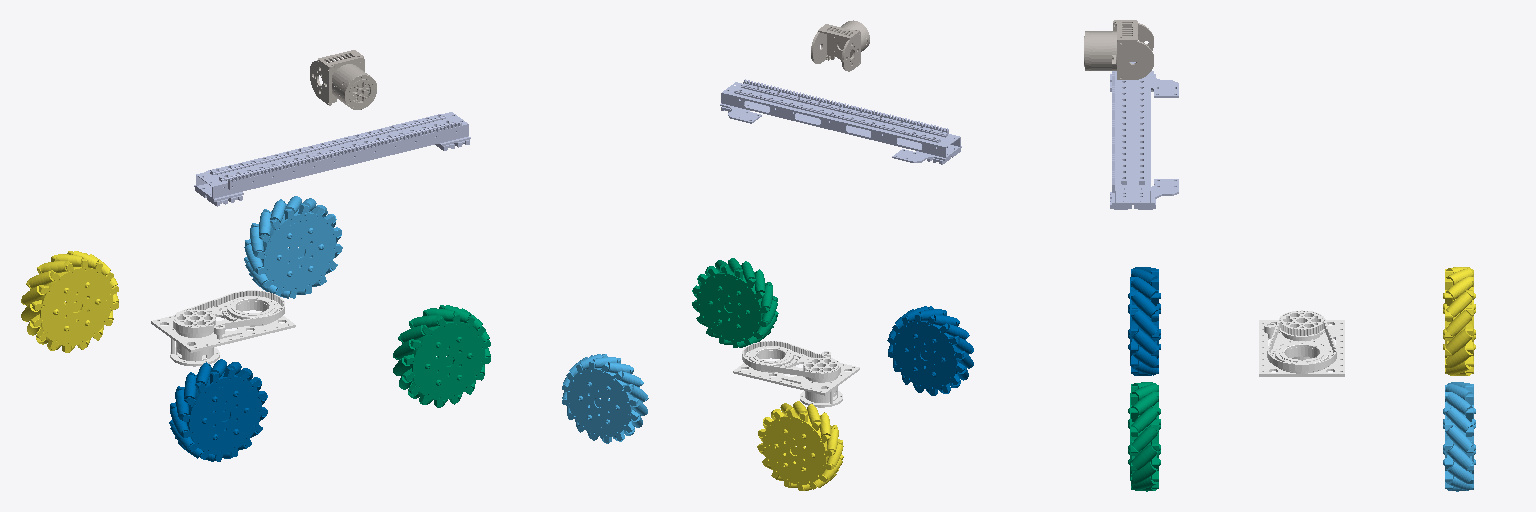
--- Facts derived from the render (not from the file) ---
Views: 3 orthographic renders of the robot side by side, from view 1: azimuth 30°, elevation 25°; view 2: azimuth 150°, elevation 25°; view 3: azimuth 270°, elevation 25°.
Model engineer_framed with 77 links and 76 joints (7 revolute, 64 continuous, 4 prismatic, 1 fixed), rooted at base_link, posed every joint at zero.
Links seen in each view (by area): view 1: link3, right_back_wheel, left_back_wheel, right_front_wheel, left_front_wheel, arm_base_link, link5; view 2: link3, right_back_wheel, left_back_wheel, left_front_wheel, right_front_wheel, arm_base_link, link5; view 3: link3, arm_base_link, link5, left_front_wheel, left_back_wheel, right_back_wheel, right_front_wheel.
Boxes of the visible links, x1,y1,x2,y2 form: link3: [194, 112, 470, 206]; right_back_wheel: [169, 359, 267, 461]; left_back_wheel: [21, 251, 118, 352]; right_front_wheel: [393, 305, 490, 407]; left_front_wheel: [244, 196, 342, 298]; arm_base_link: [151, 290, 295, 366]; link5: [310, 50, 376, 109]; link3: [720, 79, 961, 164]; right_back_wheel: [887, 306, 973, 395]; left_back_wheel: [757, 401, 843, 490]; left_front_wheel: [562, 354, 648, 443]; right_front_wheel: [692, 258, 778, 347]; arm_base_link: [733, 341, 859, 407]; link5: [811, 20, 869, 71]; link3: [1110, 62, 1178, 209]; arm_base_link: [1259, 310, 1344, 376]; link5: [1084, 20, 1153, 79]; left_front_wheel: [1443, 382, 1475, 491]; left_back_wheel: [1443, 267, 1475, 375]; right_back_wheel: [1128, 267, 1160, 375]; right_front_wheel: [1128, 382, 1160, 491].
Size in the robot's own frame: 0.5371 by 0.5507 by 0.6203 metres.
Meshes: 11 distinct files referenced, 7 mesh visuals loaded (5 binary STL); not drawn: 6 (reference not matched to a file when rendering).

URDF robot description (engineer_framed):
<?xml version="1.0" ?>
<!-- =================================================================================== -->
<!-- |    This document was autogenerated by xacro from [local-path]/catkin_ws/src/sp_control/sp_description/urdf/engineer_framed/engineer.xacro | -->
<!-- |    EDITING THIS FILE BY HAND IS NOT RECOMMENDED                                 | -->
<!-- =================================================================================== -->
<robot name="engineer_framed">
    <transmission name="trans_joint1">
        <type>transmission_interface/SimpleTransmission</type>
        <actuator name="joint1_motor">
            <mechanicalReduction>1</mechanicalReduction>
            <hardwareInterface>hardware_interface/PositionJointInterface</hardwareInterface>
        </actuator>
        <joint name="joint1">
            <hardwareInterface>hardware_interface/PositionJointInterface</hardwareInterface>
        </joint>
    </transmission>
    <transmission name="trans_joint2">
        <type>transmission_interface/SimpleTransmission</type>
        <actuator name="joint2_motor">
            <mechanicalReduction>1</mechanicalReduction>
            <hardwareInterface>hardware_interface/PositionJointInterface</hardwareInterface>
        </actuator>
        <joint name="joint2">
            <hardwareInterface>hardware_interface/PositionJointInterface</hardwareInterface>
        </joint>
    </transmission>
    <transmission name="trans_joint3">
        <type>transmission_interface/SimpleTransmission</type>
        <actuator name="joint3_motor">
            <mechanicalReduction>1</mechanicalReduction>
            <hardwareInterface>hardware_interface/PositionJointInterface</hardwareInterface>
        </actuator>
        <joint name="joint3">
            <hardwareInterface>hardware_interface/PositionJointInterface</hardwareInterface>
        </joint>
    </transmission>
    <transmission name="trans_joint4">
        <type>transmission_interface/SimpleTransmission</type>
        <actuator name="joint4_motor">
            <mechanicalReduction>1</mechanicalReduction>
            <hardwareInterface>hardware_interface/PositionJointInterface</hardwareInterface>
        </actuator>
        <joint name="joint4">
            <hardwareInterface>hardware_interface/PositionJointInterface</hardwareInterface>
        </joint>
    </transmission>
    <transmission name="trans_joint5">
        <type>transmission_interface/SimpleTransmission</type>
        <actuator name="joint5_motor">
            <mechanicalReduction>1</mechanicalReduction>
            <hardwareInterface>hardware_interface/PositionJointInterface</hardwareInterface>
        </actuator>
        <joint name="joint5">
            <hardwareInterface>hardware_interface/PositionJointInterface</hardwareInterface>
        </joint>
    </transmission>
    <transmission name="trans_joint6">
        <type>transmission_interface/SimpleTransmission</type>
        <actuator name="joint6_motor">
            <mechanicalReduction>1</mechanicalReduction>
            <hardwareInterface>hardware_interface/PositionJointInterface</hardwareInterface>
        </actuator>
        <joint name="joint6">
            <hardwareInterface>hardware_interface/PositionJointInterface</hardwareInterface>
        </joint>
    </transmission>
    <transmission name="trans_joint7">
        <type>transmission_interface/SimpleTransmission</type>
        <actuator name="joint7_motor">
            <mechanicalReduction>1</mechanicalReduction>
            <hardwareInterface>hardware_interface/PositionJointInterface</hardwareInterface>
        </actuator>
        <joint name="joint7">
            <hardwareInterface>hardware_interface/PositionJointInterface</hardwareInterface>
        </joint>
    </transmission>
    <!--<gazebo>
        <plugin name="gazebo_ros_vacuum_gripper" filename="libgazebo_ros_vacuum_gripper.so">
            <robotNamespace>/vacuum_gripper</robotNamespace>
            <bodyName>vacuum_gripper</bodyName>
            <topicName>grasping</topicName>
            <maxForce>100</maxForce>
            <maxDistance>0.05</maxDistance>
            <minDistance>0.01</minDistance>
        </plugin>
    </gazebo>	
    <gazebo reference="vacuum_gripper">
        <mu1>50</mu1>
        <mu2>50</mu2>
　　　   <minDepth>0.003</minDepth>
        <maxVel>0</maxVel>
        <kp>10000000000000.0</kp>
        <kd>1.0</kd>
        <ki>2.0</ki>
        <material>Gazebo/Grey</material>
    </gazebo>-->
    <link name="arm_base_link">
        <inertial>
            <origin rpy="0 0 0" xyz="-0.02624 -0.018282 0.25067" />
            <mass value="3.4509" />
            <inertia ixx="0.030137" ixy="-1.2844E-07" ixz="-3.1208E-06" iyy="0.030724" iyz="3.4634E-08" izz="0.0009827" />
        </inertial>
        <visual>
            <origin rpy="0 0 0" xyz="0 0 0" />
            <geometry>
                <mesh filename="package://sp_description/meshes/engineer_framed/engineer_manipulator_framed/arm_base_link.STL" />
            </geometry>
            <material name="">
                <color rgba="1 1 1 1" />
            </material>
        </visual>
        <collision>
            <origin rpy="0 0 0" xyz="0 0 0" />
            <geometry>
                <mesh filename="package://sp_description/meshes/engineer_framed/engineer_manipulator_framed/arm_base_link.STL" />
            </geometry>
        </collision>
    </link>
    <link name="link1">
        <inertial>
            <origin rpy="0 0 0" xyz="-0.045505 -0.011017 0.39513" />
            <mass value="3.3312" />
            <inertia ixx="0.0042512" ixy="-2.4588E-07" ixz="4.24E-06" iyy="0.047095" iyz="-5.1472E-08" izz="0.050676" />
        </inertial>
        <visual>
            <origin rpy="0 0 0" xyz="0 0 0" />
            <geometry>
                <mesh filename="package://sp_description/meshes/engineer_framed/engineer_manipulator_framed/link1.STL" />
            </geometry>
            <material name="">
                <color rgba="0.79216 0.81961 0.93333 1" />
            </material>
        </visual>
        <collision>
            <origin rpy="0 0 0" xyz="0 0 0" />
            <geometry>
                <mesh filename="package://sp_description/meshes/engineer_framed/engineer_manipulator_framed/link1.STL" />
            </geometry>
        </collision>
    </link>
    <joint name="joint1" type="prismatic">
        <origin rpy="0 0 0" xyz="0 0 -0.15" />
        <parent link="arm_base_link" />
        <child link="link1" />
        <axis xyz="0 0 1" />
        <limit effort="20" lower="0" upper="0.15" velocity="5" />
    </joint>
    <link name="link2">
        <inertial>
            <origin rpy="0 0 0" xyz="0.73763 -0.012605 0.069937" />
            <mass value="3.3677" />
            <inertia ixx="0.00060317" ixy="-1.317E-07" ixz="-5.0363E-06" iyy="0.059389" iyz="2.5076E-07" izz="0.059509" />
        </inertial>
        <visual>
            <origin rpy="0 0 0" xyz="0 0 0" />
            <geometry>
                <mesh filename="package://sp_description/meshes/engineer_framed/engineer_manipulator_framed/link2.STL" />
            </geometry>
            <material name="">
                <color rgba="0.77647 0.75686 0.73725 1" />
            </material>
        </visual>
        <collision>
            <origin rpy="0 0 0" xyz="0 0 0" />
            <geometry>
                <mesh filename="package://sp_description/meshes/engineer_framed/engineer_manipulator_framed/link2.STL" />
            </geometry>
        </collision>
    </link>
    <joint name="joint2" type="prismatic">
        <origin rpy="0 0 0" xyz="-0.7 0 0.3831" />
        <parent link="link1" />
        <child link="link2" />
        <axis xyz="-1 0 0" />
        <limit effort="0" lower="0" upper="0.86634" velocity="0" />
    </joint>
    <link name="link3">
        <inertial>
            <origin rpy="0 0 0" xyz="0.51091 -0.0045583 0.038639" />
            <mass value="0.53167" />
            <inertia ixx="0.0064927" ixy="-6.4359E-05" ixz="6.2407E-09" iyy="0.00010061" iyz="1.8149E-08" izz="0.0065666" />
        </inertial>
        <visual>
            <origin rpy="0 0 0" xyz="0 0 0" />
            <geometry>
                <mesh filename="package://sp_description/meshes/engineer_framed/engineer_manipulator_framed/link3.STL" />
            </geometry>
            <material name="">
                <color rgba="0.79216 0.81961 0.93333 1" />
            </material>
        </visual>
        <collision>
            <origin rpy="0 0 0" xyz="0 0 0" />
            <geometry>
                <mesh filename="package://sp_description/meshes/engineer_framed/engineer_manipulator_framed/link3.STL" />
            </geometry>
        </collision>
    </link>
    <joint name="joint3" type="prismatic">
        <origin rpy="0 3.3989E-05 0.01003" xyz="0.42794 0 0.072" />
        <parent link="link2" />
        <child link="link3" />
        <axis xyz="-1 0 0" />
        <limit effort="0" lower="0" upper="0.4754" velocity="0" />
    </joint>
    <link name="link4">
        <inertial>
            <origin rpy="0 0 0" xyz="0.0022111 0.055845 0.11382" />
            <mass value="2.5793" />
            <inertia ixx="0.0074201" ixy="-1.1003E-06" ixz="-7.0108E-06" iyy="0.00083556" iyz="-7.3369E-07" izz="0.0075834" />
        </inertial>
        <visual>
            <origin rpy="0 0 0" xyz="0 0 0" />
            <geometry>
                <mesh filename="package://sp_description/meshes/engineer_framed/engineer_manipulator_framed/link4.STL" />
            </geometry>
            <material name="">
                <color rgba="0.77647 0.75686 0.73725 1" />
            </material>
        </visual>
        <collision>
            <origin rpy="0 0 0" xyz="0 0 0" />
            <geometry>
                <mesh filename="package://sp_description/meshes/engineer_framed/engineer_manipulator_framed/link4.STL" />
            </geometry>
        </collision>
    </link>
    <joint name="joint4" type="prismatic">
        <origin rpy="0 -3.3987E-05 -0.01003" xyz="0.50967 -0.005112 0.034017" />
        <parent link="link3" />
        <child link="link4" />
        <axis xyz="0 1 0" />
        <limit effort="0" lower="-0.3" upper="0.3" velocity="0" />
    </joint>
    <link name="link5">
        <inertial>
            <origin rpy="0 0 0" xyz="0.037013 0.0011704 -0.028178" />
            <mass value="0.32118" />
            <inertia ixx="0.00016392" ixy="-3.0539E-08" ixz="5.3231E-08" iyy="9.5535E-05" iyz="7.5431E-08" izz="0.00010732" />
        </inertial>
        <visual>
            <origin rpy="0 0 0" xyz="0 0 0" />
            <geometry>
                <mesh filename="package://sp_description/meshes/engineer_framed/engineer_manipulator_framed/link5.STL" />
            </geometry>
            <material name="">
                <color rgba="0.77647 0.75686 0.73725 1" />
            </material>
        </visual>
        <collision>
            <origin rpy="0 0 0" xyz="0 0 0" />
            <geometry>
                <mesh filename="package://sp_description/meshes/engineer_framed/engineer_manipulator_framed/link5.STL" />
            </geometry>
        </collision>
    </link>
    <joint name="joint5" type="revolute">
        <origin rpy="1.5708 0 0" xyz="0 -0.018 0.128" />
        <parent link="link4" />
        <child link="link5" />
        <axis xyz="0 0 1" />
        <limit effort="0" lower="0" upper="3.14" velocity="0" />
    </joint>
    <link name="link6">
        <inertial>
            <origin rpy="0 0 0" xyz="0.00062599 -0.14196 -0.013409" />
            <mass value="0.69733" />
            <inertia ixx="0.00029313" ixy="1.0445E-08" ixz="1.6605E-08" iyy="0.00028267" iyz="-4.8697E-06" izz="0.00025509" />
        </inertial>
        <visual>
            <origin rpy="0 0 0" xyz="0 0 0" />
            <geometry>
                <mesh filename="package://sp_description/meshes/engineer_framed/engineer_manipulator_framed/link6.STL" />
            </geometry>
            <material name="">
                <color rgba="0.77647 0.75686 0.73725 1" />
            </material>
        </visual>
        <collision>
            <origin rpy="0 0 0" xyz="0 0 0" />
            <geometry>
                <mesh filename="package://sp_description/meshes/engineer_framed/engineer_manipulator_framed/link6.STL" />
            </geometry>
        </collision>
    </link>
    <joint name="joint6" type="revolute">
        <origin rpy="1.5708 -1.5674 1.5708" xyz="0.07179 0 -0.028" />
        <parent link="link5" />
        <child link="link6" />
        <axis xyz="0 0 -1" />
        <limit effort="0" lower="-1.57" upper="1.57" velocity="0" />
    </joint>
    <link name="link7">
        <inertial>
            <origin rpy="0 0 0" xyz="1.0099E-06 -0.062072 0.050902" />
            <mass value="0.16243" />
            <inertia ixx="0.00010545" ixy="-3.0539E-08" ixz="1.4953E-08" iyy="5.3443E-05" iyz="-3.1729E-08" izz="0.00014942" />
        </inertial>
        <visual>
            <origin rpy="0 0 0" xyz="0 0 0" />
            <geometry>
                <mesh filename="package://sp_description/meshes/engineer_framed/engineer_manipulator_framed/link7.STL" />
            </geometry>
            <material name="">
                <color rgba="1 1 1 1" />
            </material>
        </visual>
        <collision>
            <origin rpy="0 0 0" xyz="0 0 0" />
            <geometry>
                <mesh filename="package://sp_description/meshes/engineer_framed/engineer_manipulator_framed/link7.STL" />
            </geometry>
        </collision>
    </link>
    <joint name="joint7" type="revolute">
        <origin rpy="1.5704 0 0.0033889" xyz="0.00059574 -0.17579 -0.07179" />
        <parent link="link6" />
        <child link="link7" />
        <axis xyz="0.033366 0 0.99944" />
        <limit effort="20" lower="-3.14" upper="3.14" velocity="5" />
    </joint>
    <link name="base_link">
        <inertial>
            <origin rpy="0 0 0" xyz="0.047614 -0.013852 0.13893" />
            <mass value="12.232" />
            <inertia ixx="0.039383" ixy="2.7131E-05" ixz="0.00010315" iyy="0.048017" iyz="0.00051335" izz="0.075914" />
        </inertial>
        <visual>
            <origin rpy="0 0 0" xyz="0 0 0" />
            <geometry>
                <mesh filename="package://sp_description/meshes/engineer_framed/engineer_chassis/base_link.STL" />
            </geometry>
            <material name="">
                <color rgba="0.75294 0.75294 0.75294 1" />
            </material>
        </visual>
        <collision>
            <origin rpy="0 0 0" xyz="0 0 0" />
            <geometry>
                <mesh filename="package://sp_description/meshes/engineer_framed/engineer_chassis/base_link.STL" />
            </geometry>
        </collision>
    </link>
    <!--  link  -->
    <link name="left_front_wheel">
        <visual>
            <geometry>
                <mesh filename="package://sp_description/meshes/common/mecanum_wheel/right_mecanum_wheel.STL" />
            </geometry>
        </visual>
        <inertial>
            <mass value="0.4235" />
            <inertia ixx="4.122e-4" ixy="0.0" ixz="0.0" iyy="7.398e-4" iyz="0.0" izz="4.122e-4" />
        </inertial>
    </link>
    <!--  joint  -->
    <joint name="left_front_wheel_joint" type="revolute">
        <axis xyz="0 1 0" />
        <origin rpy="0 0 0" xyz="0.19185 0.221 0.077" />
        <!--      limit not work while type="continuous"-->
        <limit effort="10" lower="-1e9" upper="1e9" velocity="70" />
        <dynamics damping="0.0" friction="0.05" />
        <parent link="base_link" />
        <child link="left_front_wheel" />
    </joint>
    <!--  link  -->
    <link name="left_front_roller_0">
        <collision>
            <geometry>
                <sphere radius="0.009" />
            </geometry>
        </collision>
        <inertial>
            <mass value="0.036" />
            <inertia ixx="3128e-9" ixy="0.0" ixz="0.0" iyy="3128e-9" iyz="0.0" izz="3128e-9" />
            <origin xyz="0 0 0" rpy="0 0 0" />
        </inertial>
    </link>
    <joint name="left_front_roller_0_joint" type="continuous">
        <origin rpy="0 0 0" xyz="4.163799117101001e-18 0 -0.068" />
        <axis xyz="0.7071067811865476 -0.7071067811865476 0.0" />
        <dynamics damping="0.0" friction="0.001" />
        <parent link="left_front_wheel" />
        <child link="left_front_roller_0" />
    </joint>
    <gazebo reference="left_front_roller_0">
        <mu1 value="2000.0" />
        <mu2 value="2000.0" />
        <kp value="1000000.0" />
        <kd value="100.0" />
        <material>Gazebo/Black</material>
        <plugin name="gazebo_ros_control">
            <robotNamespace>/</robotNamespace>
        </plugin>
    </gazebo>
    <!--  link  -->
    <link name="left_front_roller_1">
        <collision>
            <geometry>
                <sphere radius="0.009" />
            </geometry>
        </collision>
        <inertial>
            <mass value="0.036" />
            <inertia ixx="3128e-9" ixy="0.0" ixz="0.0" iyy="3128e-9" iyz="0.0" izz="3128e-9" />
            <origin xyz="0 0 0" rpy="0 0 0" />
        </inertial>
    </link>
    <joint name="left_front_roller_1_joint" type="continuous">
        <origin rpy="0 0 0" xyz="0.026041377055996056 0 -0.06281597472798972" />
        <axis xyz="0.653200024955946 -0.7071067811865476 0.27079462217250855" />
        <dynamics damping="0.0" friction="0.001" />
        <parent link="left_front_wheel" />
        <child link="left_front_roller_1" />
    </joint>
    <gazebo reference="left_front_roller_1">
        <mu1 value="2000.0" />
        <mu2 value="2000.0" />
        <kp value="1000000.0" />
        <kd value="100.0" />
        <material>Gazebo/Black</material>
    </gazebo>
    <!--  link  -->
    <link name="left_front_roller_2">
        <collision>
            <geometry>
                <sphere radius="0.009" />
            </geometry>
        </collision>
        <inertial>
            <mass value="0.036" />
            <inertia ixx="3128e-9" ixy="0.0" ixz="0.0" iyy="3128e-9" iyz="0.0" izz="3128e-9" />
            <origin xyz="0 0 0" rpy="0 0 0" />
        </inertial>
    </link>
    <joint name="left_front_roller_2_joint" type="continuous">
        <origin rpy="0 0 0" xyz="0.04811219067739703 0 -0.048054314147865956" />
        <axis xyz="0.49969899116506866 -0.7071067811865476 0.5003008277312888" />
        <dynamics damping="0.0" friction="0.001" />
        <parent link="left_front_wheel" />
        <child link="left_front_roller_2" />
    </joint>
    <gazebo reference="left_front_roller_2">
        <mu1 value="2000.0" />
        <mu2 value="2000.0" />
        <kp value="1000000.0" />
        <kd value="100.0" />
        <material>Gazebo/Black</material>
    </gazebo>
    <!--  link  -->
    <link name="left_front_roller_3">
        <collision>
            <geometry>
                <sphere radius="0.009" />
            </geometry>
        </collision>
        <inertial>
            <mass value="0.036" />
            <inertia ixx="3128e-9" ixy="0.0" ixz="0.0" iyy="3128e-9" iyz="0.0" izz="3128e-9" />
            <origin xyz="0 0 0" rpy="0 0 0" />
        </inertial>
    </link>
    <joint name="left_front_roller_3_joint" type="continuous">
        <origin rpy="0 0 0" xyz="0.06284727452340379 0 -0.025965748303869884" />
        <axis xyz="0.2700081868271984 -0.7071067811865476 0.6535254999204613" />
        <dynamics damping="0.0" friction="0.001" />
        <parent link="left_front_wheel" />
        <child link="left_front_roller_3" />
    </joint>
    <gazebo reference="left_front_roller_3">
        <mu1 value="2000.0" />
        <mu2 value="2000.0" />
        <kp value="1000000.0" />
        <kd value="100.0" />
        <material>Gazebo/Black</material>
    </gazebo>
    <!--  link  -->
    <link name="left_front_roller_4">
        <collision>
            <geometry>
                <sphere radius="0.009" />
            </geometry>
        </collision>
        <inertial>
            <mass value="0.036" />
            <inertia ixx="3128e-9" ixy="0.0" ixz="0.0" iyy="3128e-9" iyz="0.0" izz="3128e-9" />
            <origin xyz="0 0 0" rpy="0 0 0" />
        </inertial>
    </link>
    <joint name="left_front_roller_4_joint" type="continuous">
        <origin rpy="0 0 0" xyz="0.06799995073981367 0 8.184975818264867e-05" />
        <axis xyz="-0.0008511252801386329 -0.7071067811865476 0.7071062689481388" />
        <dynamics damping="0.0" friction="0.001" />
        <parent link="left_front_wheel" />
        <child link="left_front_roller_4" />
    </joint>
    <gazebo reference="left_front_roller_4">
        <mu1 value="2000.0" />
        <mu2 value="2000.0" />
        <kp value="1000000.0" />
        <kd value="100.0" />
        <material>Gazebo/Black</material>
    </gazebo>
    <!--  link  -->
    <link name="left_front_roller_5">
        <collision>
            <geometry>
                <sphere radius="0.009" />
            </geometry>
        </collision>
        <inertial>
            <mass value="0.036" />
            <inertia ixx="3128e-9" ixy="0.0" ixz="0.0" iyy="3128e-9" iyz="0.0" izz="3128e-9" />
            <origin xyz="0 0 0" rpy="0 0 0" />
        </inertial>
    </link>
    <joint name="left_front_roller_5_joint" type="continuous">
        <origin rpy="0 0 0" xyz="0.06278458392296919 0 0.026116968078619688" />
        <axis xyz="-0.27158066518271434 -0.7071067811865476 0.6528736036162853" />
        <dynamics damping="0.0" friction="0.001" />
        <parent link="left_front_wheel" />
        <child link="left_front_roller_5" />
    </joint>
    <gazebo reference="left_front_roller_5">
        <mu1 value="2000.0" />
        <mu2 value="2000.0" />
        <kp value="1000000.0" />
        <kd value="100.0" />
        <material>Gazebo/Black</material>
    </gazebo>
    <!--  link  -->
    <link name="left_front_roller_6">
        <collision>
            <geometry>
                <sphere radius="0.009" />
            </geometry>
        </collision>
        <inertial>
            <mass value="0.036" />
            <inertia ixx="3128e-9" ixy="0.0" ixz="0.0" iyy="3128e-9" iyz="0.0" izz="3128e-9" />
            <origin xyz="0 0 0" rpy="0 0 0" />
        </inertial>
    </link>
    <joint name="left_front_roller_6_joint" type="continuous">
        <origin rpy="0 0 0" xyz="0.0479963679958505 0 0.04816999750059053" />
        <axis xyz="-0.5009019394471561 -0.7071067811865476 0.499096430620454" />
        <dynamics damping="0.0" friction="0.001" />
        <parent link="left_front_wheel" />
        <child link="left_front_roller_6" />
    </joint>
    <gazebo reference="left_front_roller_6">
        <mu1 value="2000.0" />
        <mu2 value="2000.0" />
        <kp value="1000000.0" />
        <kd value="100.0" />
        <material>Gazebo/Black</material>
    </gazebo>
    <!--  link  -->
    <link name="left_front_roller_7">
        <collision>
            <geometry>
                <sphere radius="0.009" />
            </geometry>
        </collision>
        <inertial>
            <mass value="0.036" />
            <inertia ixx="3128e-9" ixy="0.0" ixz="0.0" iyy="3128e-9" iyz="0.0" izz="3128e-9" />
            <origin xyz="0 0 0" rpy="0 0 0" />
        </inertial>
    </link>
    <joint name="left_front_roller_7_joint" type="continuous">
        <origin rpy="0 0 0" xyz="0.0258900819318143 0 0.06287848326386335" />
        <axis xyz="-0.6538500280382736 -0.7071067811865476 0.2692213602861942" />
        <dynamics damping="0.0" friction="0.001" />
        <parent link="left_front_wheel" />
        <child link="left_front_roller_7" />
    </joint>
    <gazebo reference="left_front_roller_7">
        <mu1 value="2000.0" />
        <mu2 value="2000.0" />
        <kp value="1000000.0" />
        <kd value="100.0" />
        <material>Gazebo/Black</material>
    </gazebo>
    <!--  link  -->
    <link name="left_front_roller_8">
        <collision>
            <geometry>
                <sphere radius="0.009" />
            </geometry>
        </collision>
        <inertial>
            <mass value="0.036" />
            <inertia ixx="3128e-9" ixy="0.0" ixz="0.0" iyy="3128e-9" iyz="0.0" izz="3128e-9" />
            <origin xyz="0 0 0" rpy="0 0 0" />
        </inertial>
    </link>
    <joint name="left_front_roller_8_joint" type="continuous">
        <origin rpy="0 0 0" xyz="-0.00016369939777898906 0 0.06799980295932605" />
        <axis xyz="-0.7071047322336546 -0.7071067811865476 -0.0017022493271422689" />
        <dynamics damping="0.0" friction="0.001" />
        <parent link="left_front_wheel" />
        <child link="left_front_roller_8" />
    </joint>
    <gazebo reference="left_front_roller_8">
        <mu1 value="2000.0" />
        <mu2 value="2000.0" />
        <kp value="1000000.0" />
        <kd value="100.0" />
        <material>Gazebo/Black</material>
    </gazebo>
    <!--  link  -->
    <link name="left_front_roller_9">
        <collision>
            <geometry>
                <sphere radius="0.009" />
            </geometry>
        </collision>
        <inertial>
            <mass value="0.036" />
            <inertia ixx="3128e-9" ixy="0.0" ixz="0.0" iyy="3128e-9" iyz="0.0" izz="3128e-9" />
            <origin xyz="0 0 0" rpy="0 0 0" />
        </inertial>
    </link>
    <joint name="left_front_roller_9_joint" type="continuous">
        <origin rpy="0 0 0" xyz="-0.026192521262222306 0 0.06275310215382211" />
        <axis xyz="-0.6525462363744081 -0.7071067811865476 -0.2723663147189738" />
        <dynamics damping="0.0" friction="0.001" />
        <parent link="left_front_wheel" />
        <child link="left_front_roller_9" />
    </joint>
    <gazebo reference="left_front_roller_9">
        <mu1 value="2000.0" />
        <mu2 value="2000.0" />
        <kp value="1000000.0" />
        <kd value="100.0" />
        <material>Gazebo/Black</material>
    </gazebo>
    <!--  link  -->
    <link name="left_front_roller_10">
        <collision>
            <geometry>
                <sphere radius="0.009" />
            </geometry>
        </collision>
        <inertial>
            <mass value="0.036" />
            <inertia ixx="3128e-9" ixy="0.0" ixz="0.0" iyy="3128e-9" iyz="0.0" izz="3128e-9" />
            <origin xyz="0 0 0" rpy="0 0 0" />
        </inertial>
    </link>
    <joint name="left_front_roller_10_joint" type="continuous">
        <origin rpy="0 0 0" xyz="-0.048227734533694264 0 0.04793835230530472" />
        <axis xyz="-0.49849314697045194 -0.7071067811865476 -0.5015023254417625" />
        <dynamics damping="0.0" friction="0.001" />
        <parent link="left_front_wheel" />
        <child link="left_front_roller_10" />
    </joint>
    <gazebo reference="left_front_roller_10">
        <mu1 value="2000.0" />
        <mu2 value="2000.0" />
        <kp value="1000000.0" />
        <kd value="100.0" />
        <material>Gazebo/Black</material>
    </gazebo>
    <!--  link  -->
    <link name="left_front_roller_11">
        <collision>
            <geometry>
                <sphere radius="0.009" />
            </geometry>
        </collision>
        <inertial>
            <mass value="0.036" />
            <inertia ixx="3128e-9" ixy="0.0" ixz="0.0" iyy="3128e-9" iyz="0.0" izz="3128e-9" />
            <origin xyz="0 0 0" rpy="0 0 0" />
        </inertial>
    </link>
    <joint name="left_front_roller_11_joint" type="continuous">
        <origin rpy="0 0 0" xyz="-0.06290960090415226 0 0.02581437804945697" />
        <axis xyz="-0.2684341436894733 -0.7071067811865476 -0.6541736088391974" />
        <dynamics damping="0.0" friction="0.001" />
        <parent link="left_front_wheel" />
        <child link="left_front_roller_11" />
    </joint>
    <gazebo reference="left_front_roller_11">
        <mu1 value="2000.0" />
        <mu2 value="2000.0" />
        <kp value="1000000.0" />
        <kd value="100.0" />
        <material>Gazebo/Black</material>
    </gazebo>
    <!--  link  -->
    <link name="left_front_roller_12">
        <collision>
            <geometry>
                <sphere radius="0.009" />
            </geometry>
        </collision>
        <inertial>
            <mass value="0.036" />
            <inertia ixx="3128e-9" ixy="0.0" ixz="0.0" iyy="3128e-9" iyz="0.0" izz="3128e-9" />
            <origin xyz="0 0 0" rpy="0 0 0" />
        </inertial>
    </link>
    <joint name="left_front_roller_12_joint" type="continuous">
        <origin rpy="0 0 0" xyz="-0.06799955665875124 0 -0.0002455488002028931" />
        <axis xyz="0.002553370907877698 -0.7071067811865476 -0.7071021710453214" />
        <dynamics damping="0.0" friction="0.001" />
        <parent link="left_front_wheel" />
        <child link="left_front_roller_12" />
    </joint>
    <gazebo reference="left_front_roller_12">
        <mu1 value="2000.0" />
        <mu2 value="2000.0" />
        <kp value="1000000.0" />
        <kd value="100.0" />
        <material>Gazebo/Black</material>
    </gazebo>
    <!--  link  -->
    <link name="left_front_roller_13">
        <collision>
            <geometry>
                <sphere radius="0.009" />
            </geometry>
        </collision>
        <inertial>
            <mass value="0.036" />
            <inertia ixx="3128e-9" ixy="0.0" ixz="0.0" iyy="3128e-9" iyz="0.0" izz="3128e-9" />
            <origin xyz="0 0 0" rpy="0 0 0" />
        </inertial>
    </link>
    <joint name="left_front_roller_13_joint" type="continuous">
        <origin rpy="0 0 0" xyz="-0.06272152946616016 0 -0.026268036497340295" />
        <axis xyz="0.2731515696430154 -0.7071067811865476 -0.6522179237046135" />
        <dynamics damping="0.0" friction="0.001" />
        <parent link="left_front_wheel" />
        <child link="left_front_roller_13" />
    </joint>
    <gazebo reference="left_front_roller_13">
        <mu1 value="2000.0" />
        <mu2 value="2000.0" />
        <kp value="1000000.0" />
        <kd value="100.0" />
        <material>Gazebo/Black</material>
    </gazebo>
    <!--  link  -->
    <link name="left_front_roller_14">
        <collision>
            <geometry>
                <sphere radius="0.009" />
            </geometry>
        </collision>
        <inertial>
            <mass value="0.036" />
            <inertia ixx="3128e-9" ixy="0.0" ixz="0.0" iyy="3128e-9" iyz="0.0" izz="3128e-9" />
            <origin xyz="0 0 0" rpy="0 0 0" />
        </inertial>
    </link>
    <joint name="left_front_roller_14_joint" type="continuous">
        <origin rpy="0 0 0" xyz="-0.04788026716028342 0 -0.04828540169305713" />
        <axis xyz="0.5021019848452515 -0.7071067811865476 -0.49788914108911725" />
        <dynamics damping="0.0" friction="0.001" />
        <parent link="left_front_wheel" />
        <child link="left_front_roller_14" />
    </joint>
    <gazebo reference="left_front_roller_14">
        <mu1 value="2000.0" />
        <mu2 value="2000.0" />
        <kp value="1000000.0" />
        <kd value="100.0" />
        <material>Gazebo/Black</material>
    </gazebo>
    <!--  link  -->
    <link name="left_front_roller_15">
        <collision>
            <geometry>
                <sphere radius="0.009" />
            </geometry>
        </collision>
        <inertial>
            <mass value="0.036" />
            <inertia ixx="3128e-9" ixy="0.0" ixz="0.0" iyy="3128e-9" iyz="0.0" izz="3128e-9" />
            <origin xyz="0 0 0" rpy="0 0 0" />
        </inertial>
    </link>
    <joint name="left_front_roller_15_joint" type="continuous">
        <origin rpy="0 0 0" xyz="-0.025738636766479847 0 -0.06294062739918639" />
        <axis xyz="0.6544962418544192 -0.7071067811865476 -0.2676465381775779" />
        <dynamics damping="0.0" friction="0.001" />
        <parent link="left_front_wheel" />
        <child link="left_front_roller_15" />
    </joint>
    <gazebo reference="left_front_roller_15">
        <mu1 value="2000.0" />
        <mu2 value="2000.0" />
        <kp value="1000000.0" />
        <kd value="100.0" />
        <material>Gazebo/Black</material>
    </gazebo>
    <!--  link  -->
    <link name="right_front_wheel">
        <visual>
            <geometry>
                <mesh filename="package://sp_description/meshes/common/mecanum_wheel/left_mecanum_wheel.STL" />
            </geometry>
        </visual>
        <inertial>
            <mass value="0.4235" />
            <inertia ixx="4.122e-4" ixy="0.0" ixz="0.0" iyy="7.398e-4" iyz="0.0" izz="4.122e-4" />
        </inertial>
    </link>
    <!--  joint  -->
    <joint name="right_front_wheel_joint" type="revolute">
        <axis xyz="0 1 0" />
        <origin rpy="0 0 0" xyz="0.19185 -0.221 0.077" />
        <!--      limit not work while type="continuous"-->
        <limit effort="10" lower="-1e9" upper="1e9" velocity="70" />
        <dynamics damping="0.0" friction="0.05" />
        <parent link="base_link" />
        <child link="right_front_wheel" />
    </joint>
    <!--  link  -->
    <link name="right_front_roller_0">
        <collision>
            <geometry>
                <sphere radius="0.009" />
            </geometry>
        </collision>
        <inertial>
            <mass value="0.036" />
            <inertia ixx="3128e-9" ixy="0.0" ixz="0.0" iyy="3128e-9" iyz="0.0" izz="3128e-9" />
            <origin xyz="0 0 0" rpy="0 0 0" />
        </inertial>
    </link>
    <joint name="right_front_roller_0_joint" type="continuous">
        <origin rpy="0 0 0" xyz="4.163799117101001e-18 0 -0.068" />
        <axis xyz="0.7071067811865476 0.7071067811865476 0.0" />
        <dynamics damping="0.0" friction="0.001" />
        <parent link="right_front_wheel" />
        <child link="right_front_roller_0" />
    </joint>
    <gazebo reference="right_front_roller_0">
        <mu1 value="2000.0" />
        <mu2 value="2000.0" />
        <kp value="1000000.0" />
        <kd value="100.0" />
        <material>Gazebo/Black</material>
    </gazebo>
    <!--  link  -->
    <link name="right_front_roller_1">
        <collision>
            <geometry>
                <sphere radius="0.009" />
            </geometry>
        </collision>
        <inertial>
            <mass value="0.036" />
            <inertia ixx="3128e-9" ixy="0.0" ixz="0.0" iyy="3128e-9" iyz="0.0" izz="3128e-9" />
            <origin xyz="0 0 0" rpy="0 0 0" />
        </inertial>
    </link>
    <joint name="right_front_roller_1_joint" type="continuous">
        <origin rpy="0 0 0" xyz="0.026041377055996056 0 -0.06281597472798972" />
        <axis xyz="0.653200024955946 0.7071067811865476 0.27079462217250855" />
        <dynamics damping="0.0" friction="0.001" />
        <parent link="right_front_wheel" />
        <child link="right_front_roller_1" />
    </joint>
    <gazebo reference="right_front_roller_1">
        <mu1 value="2000.0" />
        <mu2 value="2000.0" />
        <kp value="1000000.0" />
        <kd value="100.0" />
        <material>Gazebo/Black</material>
    </gazebo>
    <!--  link  -->
    <link name="right_front_roller_2">
        <collision>
            <geometry>
                <sphere radius="0.009" />
            </geometry>
        </collision>
        <inertial>
            <mass value="0.036" />
            <inertia ixx="3128e-9" ixy="0.0" ixz="0.0" iyy="3128e-9" iyz="0.0" izz="3128e-9" />
            <origin xyz="0 0 0" rpy="0 0 0" />
        </inertial>
    </link>
    <joint name="right_front_roller_2_joint" type="continuous">
        <origin rpy="0 0 0" xyz="0.04811219067739703 0 -0.048054314147865956" />
        <axis xyz="0.49969899116506866 0.7071067811865476 0.5003008277312888" />
        <dynamics damping="0.0" friction="0.001" />
        <parent link="right_front_wheel" />
        <child link="right_front_roller_2" />
    </joint>
    <gazebo reference="right_front_roller_2">
        <mu1 value="2000.0" />
        <mu2 value="2000.0" />
        <kp value="1000000.0" />
        <kd value="100.0" />
        <material>Gazebo/Black</material>
    </gazebo>
    <!--  link  -->
    <link name="right_front_roller_3">
        <collision>
            <geometry>
                <sphere radius="0.009" />
            </geometry>
        </collision>
        <inertial>
            <mass value="0.036" />
            <inertia ixx="3128e-9" ixy="0.0" ixz="0.0" iyy="3128e-9" iyz="0.0" izz="3128e-9" />
            <origin xyz="0 0 0" rpy="0 0 0" />
        </inertial>
    </link>
    <joint name="right_front_roller_3_joint" type="continuous">
        <origin rpy="0 0 0" xyz="0.06284727452340379 0 -0.025965748303869884" />
        <axis xyz="0.2700081868271984 0.7071067811865476 0.6535254999204613" />
        <dynamics damping="0.0" friction="0.001" />
        <parent link="right_front_wheel" />
        <child link="right_front_roller_3" />
    </joint>
    <gazebo reference="right_front_roller_3">
        <mu1 value="2000.0" />
        <mu2 value="2000.0" />
        <kp value="1000000.0" />
        <kd value="100.0" />
        <material>Gazebo/Black</material>
    </gazebo>
    <!--  link  -->
    <link name="right_front_roller_4">
        <collision>
            <geometry>
                <sphere radius="0.009" />
            </geometry>
        </collision>
        <inertial>
            <mass value="0.036" />
            <inertia ixx="3128e-9" ixy="0.0" ixz="0.0" iyy="3128e-9" iyz="0.0" izz="3128e-9" />
            <origin xyz="0 0 0" rpy="0 0 0" />
        </inertial>
    </link>
    <joint name="right_front_roller_4_joint" type="continuous">
        <origin rpy="0 0 0" xyz="0.06799995073981367 0 8.184975818264867e-05" />
        <axis xyz="-0.0008511252801386329 0.7071067811865476 0.7071062689481388" />
        <dynamics damping="0.0" friction="0.001" />
        <parent link="right_front_wheel" />
        <child link="right_front_roller_4" />
    </joint>
    <gazebo reference="right_front_roller_4">
        <mu1 value="2000.0" />
        <mu2 value="2000.0" />
        <kp value="1000000.0" />
        <kd value="100.0" />
        <material>Gazebo/Black</material>
    </gazebo>
    <!--  link  -->
    <link name="right_front_roller_5">
        <collision>
            <geometry>
                <sphere radius="0.009" />
            </geometry>
        </collision>
        <inertial>
            <mass value="0.036" />
            <inertia ixx="3128e-9" ixy="0.0" ixz="0.0" iyy="3128e-9" iyz="0.0" izz="3128e-9" />
            <origin xyz="0 0 0" rpy="0 0 0" />
        </inertial>
    </link>
    <joint name="right_front_roller_5_joint" type="continuous">
        <origin rpy="0 0 0" xyz="0.06278458392296919 0 0.026116968078619688" />
        <axis xyz="-0.27158066518271434 0.7071067811865476 0.6528736036162853" />
        <dynamics damping="0.0" friction="0.001" />
        <parent link="right_front_wheel" />
        <child link="right_front_roller_5" />
    </joint>
    <gazebo reference="right_front_roller_5">
        <mu1 value="2000.0" />
        <mu2 value="2000.0" />
        <kp value="1000000.0" />
        <kd value="100.0" />
        <material>Gazebo/Black</material>
    </gazebo>
    <!--  link  -->
    <link name="right_front_roller_6">
        <collision>
            <geometry>
                <sphere radius="0.009" />
            </geometry>
        </collision>
        <inertial>
            <mass value="0.036" />
            <inertia ixx="3128e-9" ixy="0.0" ixz="0.0" iyy="3128e-9" iyz="0.0" izz="3128e-9" />
            <origin xyz="0 0 0" rpy="0 0 0" />
        </inertial>
    </link>
    <joint name="right_front_roller_6_joint" type="continuous">
        <origin rpy="0 0 0" xyz="0.0479963679958505 0 0.04816999750059053" />
        <axis xyz="-0.5009019394471561 0.7071067811865476 0.499096430620454" />
        <dynamics damping="0.0" friction="0.001" />
        <parent link="right_front_wheel" />
        <child link="right_front_roller_6" />
    </joint>
    <gazebo reference="right_front_roller_6">
        <mu1 value="2000.0" />
        <mu2 value="2000.0" />
        <kp value="1000000.0" />
        <kd value="100.0" />
        <material>Gazebo/Black</material>
    </gazebo>
    <!--  link  -->
    <link name="right_front_roller_7">
        <collision>
            <geometry>
                <sphere radius="0.009" />
            </geometry>
        </collision>
        <inertial>
            <mass value="0.036" />
            <inertia ixx="3128e-9" ixy="0.0" ixz="0.0" iyy="3128e-9" iyz="0.0" izz="3128e-9" />
            <origin xyz="0 0 0" rpy="0 0 0" />
        </inertial>
    </link>
    <joint name="right_front_roller_7_joint" type="continuous">
        <origin rpy="0 0 0" xyz="0.0258900819318143 0 0.06287848326386335" />
        <axis xyz="-0.6538500280382736 0.7071067811865476 0.2692213602861942" />
        <dynamics damping="0.0" friction="0.001" />
        <parent link="right_front_wheel" />
        <child link="right_front_roller_7" />
    </joint>
    <gazebo reference="right_front_roller_7">
        <mu1 value="2000.0" />
        <mu2 value="2000.0" />
        <kp value="1000000.0" />
        <kd value="100.0" />
        <material>Gazebo/Black</material>
    </gazebo>
    <!--  link  -->
    <link name="right_front_roller_8">
        <collision>
            <geometry>
                <sphere radius="0.009" />
            </geometry>
        </collision>
        <inertial>
            <mass value="0.036" />
            <inertia ixx="3128e-9" ixy="0.0" ixz="0.0" iyy="3128e-9" iyz="0.0" izz="3128e-9" />
            <origin xyz="0 0 0" rpy="0 0 0" />
        </inertial>
    </link>
    <joint name="right_front_roller_8_joint" type="continuous">
        <origin rpy="0 0 0" xyz="-0.00016369939777898906 0 0.06799980295932605" />
        <axis xyz="-0.7071047322336546 0.7071067811865476 -0.0017022493271422689" />
        <dynamics damping="0.0" friction="0.001" />
        <parent link="right_front_wheel" />
        <child link="right_front_roller_8" />
    </joint>
    <gazebo reference="right_front_roller_8">
        <mu1 value="2000.0" />
        <mu2 value="2000.0" />
        <kp value="1000000.0" />
        <kd value="100.0" />
        <material>Gazebo/Black</material>
    </gazebo>
    <!--  link  -->
    <link name="right_front_roller_9">
        <collision>
            <geometry>
                <sphere radius="0.009" />
            </geometry>
        </collision>
        <inertial>
            <mass value="0.036" />
            <inertia ixx="3128e-9" ixy="0.0" ixz="0.0" iyy="3128e-9" iyz="0.0" izz="3128e-9" />
            <origin xyz="0 0 0" rpy="0 0 0" />
        </inertial>
    </link>
    <joint name="right_front_roller_9_joint" type="continuous">
        <origin rpy="0 0 0" xyz="-0.026192521262222306 0 0.06275310215382211" />
        <axis xyz="-0.6525462363744081 0.7071067811865476 -0.2723663147189738" />
        <dynamics damping="0.0" friction="0.001" />
        <parent link="right_front_wheel" />
        <child link="right_front_roller_9" />
    </joint>
    <gazebo reference="right_front_roller_9">
        <mu1 value="2000.0" />
        <mu2 value="2000.0" />
        <kp value="1000000.0" />
        <kd value="100.0" />
        <material>Gazebo/Black</material>
    </gazebo>
    <!--  link  -->
    <link name="right_front_roller_10">
        <collision>
            <geometry>
                <sphere radius="0.009" />
            </geometry>
        </collision>
        <inertial>
            <mass value="0.036" />
            <inertia ixx="3128e-9" ixy="0.0" ixz="0.0" iyy="3128e-9" iyz="0.0" izz="3128e-9" />
            <origin xyz="0 0 0" rpy="0 0 0" />
        </inertial>
    </link>
    <joint name="right_front_roller_10_joint" type="continuous">
        <origin rpy="0 0 0" xyz="-0.048227734533694264 0 0.04793835230530472" />
        <axis xyz="-0.49849314697045194 0.7071067811865476 -0.5015023254417625" />
        <dynamics damping="0.0" friction="0.001" />
        <parent link="right_front_wheel" />
        <child link="right_front_roller_10" />
    </joint>
    <gazebo reference="right_front_roller_10">
        <mu1 value="2000.0" />
        <mu2 value="2000.0" />
        <kp value="1000000.0" />
        <kd value="100.0" />
        <material>Gazebo/Black</material>
    </gazebo>
    <!--  link  -->
    <link name="right_front_roller_11">
        <collision>
            <geometry>
                <sphere radius="0.009" />
            </geometry>
        </collision>
        <inertial>
            <mass value="0.036" />
            <inertia ixx="3128e-9" ixy="0.0" ixz="0.0" iyy="3128e-9" iyz="0.0" izz="3128e-9" />
            <origin xyz="0 0 0" rpy="0 0 0" />
        </inertial>
    </link>
    <joint name="right_front_roller_11_joint" type="continuous">
        <origin rpy="0 0 0" xyz="-0.06290960090415226 0 0.02581437804945697" />
        <axis xyz="-0.2684341436894733 0.7071067811865476 -0.6541736088391974" />
        <dynamics damping="0.0" friction="0.001" />
        <parent link="right_front_wheel" />
        <child link="right_front_roller_11" />
    </joint>
    <gazebo reference="right_front_roller_11">
        <mu1 value="2000.0" />
        <mu2 value="2000.0" />
        <kp value="1000000.0" />
        <kd value="100.0" />
        <material>Gazebo/Black</material>
    </gazebo>
    <!--  link  -->
    <link name="right_front_roller_12">
        <collision>
            <geometry>
                <sphere radius="0.009" />
            </geometry>
        </collision>
        <inertial>
            <mass value="0.036" />
            <inertia ixx="3128e-9" ixy="0.0" ixz="0.0" iyy="3128e-9" iyz="0.0" izz="3128e-9" />
            <origin xyz="0 0 0" rpy="0 0 0" />
        </inertial>
    </link>
    <joint name="right_front_roller_12_joint" type="continuous">
        <origin rpy="0 0 0" xyz="-0.06799955665875124 0 -0.0002455488002028931" />
        <axis xyz="0.002553370907877698 0.7071067811865476 -0.7071021710453214" />
        <dynamics damping="0.0" friction="0.001" />
        <parent link="right_front_wheel" />
        <child link="right_front_roller_12" />
    </joint>
    <gazebo reference="right_front_roller_12">
        <mu1 value="2000.0" />
        <mu2 value="2000.0" />
        <kp value="1000000.0" />
        <kd value="100.0" />
        <material>Gazebo/Black</material>
    </gazebo>
    <!--  link  -->
    <link name="right_front_roller_13">
        <collision>
            <geometry>
                <sphere radius="0.009" />
            </geometry>
        </collision>
        <inertial>
            <mass value="0.036" />
            <inertia ixx="3128e-9" ixy="0.0" ixz="0.0" iyy="3128e-9" iyz="0.0" izz="3128e-9" />
            <origin xyz="0 0 0" rpy="0 0 0" />
        </inertial>
    </link>
    <joint name="right_front_roller_13_joint" type="continuous">
        <origin rpy="0 0 0" xyz="-0.06272152946616016 0 -0.026268036497340295" />
        <axis xyz="0.2731515696430154 0.7071067811865476 -0.6522179237046135" />
        <dynamics damping="0.0" friction="0.001" />
        <parent link="right_front_wheel" />
        <child link="right_front_roller_13" />
    </joint>
    <gazebo reference="right_front_roller_13">
        <mu1 value="2000.0" />
        <mu2 value="2000.0" />
        <kp value="1000000.0" />
        <kd value="100.0" />
        <material>Gazebo/Black</material>
    </gazebo>
    <!--  link  -->
    <link name="right_front_roller_14">
        <collision>
            <geometry>
                <sphere radius="0.009" />
            </geometry>
        </collision>
        <inertial>
            <mass value="0.036" />
            <inertia ixx="3128e-9" ixy="0.0" ixz="0.0" iyy="3128e-9" iyz="0.0" izz="3128e-9" />
            <origin xyz="0 0 0" rpy="0 0 0" />
        </inertial>
    </link>
    <joint name="right_front_roller_14_joint" type="continuous">
        <origin rpy="0 0 0" xyz="-0.04788026716028342 0 -0.04828540169305713" />
        <axis xyz="0.5021019848452515 0.7071067811865476 -0.49788914108911725" />
        <dynamics damping="0.0" friction="0.001" />
        <parent link="right_front_wheel" />
        <child link="right_front_roller_14" />
    </joint>
    <gazebo reference="right_front_roller_14">
        <mu1 value="2000.0" />
        <mu2 value="2000.0" />
        <kp value="1000000.0" />
        <kd value="100.0" />
        <material>Gazebo/Black</material>
    </gazebo>
    <!--  link  -->
    <link name="right_front_roller_15">
        <collision>
            <geometry>
                <sphere radius="0.009" />
            </geometry>
        </collision>
        <inertial>
            <mass value="0.036" />
            <inertia ixx="3128e-9" ixy="0.0" ixz="0.0" iyy="3128e-9" iyz="0.0" izz="3128e-9" />
            <origin xyz="0 0 0" rpy="0 0 0" />
        </inertial>
    </link>
    <joint name="right_front_roller_15_joint" type="continuous">
        <origin rpy="0 0 0" xyz="-0.025738636766479847 0 -0.06294062739918639" />
        <axis xyz="0.6544962418544192 0.7071067811865476 -0.2676465381775779" />
        <dynamics damping="0.0" friction="0.001" />
        <parent link="right_front_wheel" />
        <child link="right_front_roller_15" />
    </joint>
    <gazebo reference="right_front_roller_15">
        <mu1 value="2000.0" />
        <mu2 value="2000.0" />
        <kp value="1000000.0" />
        <kd value="100.0" />
        <material>Gazebo/Black</material>
    </gazebo>
    <!--  link  -->
    <link name="left_back_wheel">
        <visual>
            <geometry>
                <mesh filename="package://sp_description/meshes/common/mecanum_wheel/left_mecanum_wheel.STL" />
            </geometry>
        </visual>
        <inertial>
            <mass value="0.4235" />
            <inertia ixx="4.122e-4" ixy="0.0" ixz="0.0" iyy="7.398e-4" iyz="0.0" izz="4.122e-4" />
        </inertial>
    </link>
    <!--  joint  -->
    <joint name="left_back_wheel_joint" type="revolute">
        <axis xyz="0 1 0" />
        <origin rpy="0 0 0" xyz="-0.19152 0.221 0.077" />
        <!--      limit not work while type="continuous"-->
        <limit effort="10" lower="-1e9" upper="1e9" velocity="70" />
        <dynamics damping="0.0" friction="0.05" />
        <parent link="base_link" />
        <child link="left_back_wheel" />
    </joint>
    <!--  link  -->
    <link name="left_back_roller_0">
        <collision>
            <geometry>
                <sphere radius="0.009" />
            </geometry>
        </collision>
        <inertial>
            <mass value="0.036" />
            <inertia ixx="3128e-9" ixy="0.0" ixz="0.0" iyy="3128e-9" iyz="0.0" izz="3128e-9" />
            <origin xyz="0 0 0" rpy="0 0 0" />
        </inertial>
    </link>
    <joint name="left_back_roller_0_joint" type="continuous">
        <origin rpy="0 0 0" xyz="4.163799117101001e-18 0 -0.068" />
        <axis xyz="0.7071067811865476 0.7071067811865476 0.0" />
        <dynamics damping="0.0" friction="0.001" />
        <parent link="left_back_wheel" />
        <child link="left_back_roller_0" />
    </joint>
    <gazebo reference="left_back_roller_0">
        <mu1 value="2000.0" />
        <mu2 value="2000.0" />
        <kp value="1000000.0" />
        <kd value="100.0" />
        <material>Gazebo/Black</material>
    </gazebo>
    <!--  link  -->
    <link name="left_back_roller_1">
        <collision>
            <geometry>
                <sphere radius="0.009" />
            </geometry>
        </collision>
        <inertial>
            <mass value="0.036" />
            <inertia ixx="3128e-9" ixy="0.0" ixz="0.0" iyy="3128e-9" iyz="0.0" izz="3128e-9" />
            <origin xyz="0 0 0" rpy="0 0 0" />
        </inertial>
    </link>
    <joint name="left_back_roller_1_joint" type="continuous">
        <origin rpy="0 0 0" xyz="0.026041377055996056 0 -0.06281597472798972" />
        <axis xyz="0.653200024955946 0.7071067811865476 0.27079462217250855" />
        <dynamics damping="0.0" friction="0.001" />
        <parent link="left_back_wheel" />
        <child link="left_back_roller_1" />
    </joint>
    <gazebo reference="left_back_roller_1">
        <mu1 value="2000.0" />
        <mu2 value="2000.0" />
        <kp value="1000000.0" />
        <kd value="100.0" />
        <material>Gazebo/Black</material>
    </gazebo>
    <!--  link  -->
    <link name="left_back_roller_2">
        <collision>
            <geometry>
                <sphere radius="0.009" />
            </geometry>
        </collision>
        <inertial>
            <mass value="0.036" />
            <inertia ixx="3128e-9" ixy="0.0" ixz="0.0" iyy="3128e-9" iyz="0.0" izz="3128e-9" />
            <origin xyz="0 0 0" rpy="0 0 0" />
        </inertial>
    </link>
    <joint name="left_back_roller_2_joint" type="continuous">
        <origin rpy="0 0 0" xyz="0.04811219067739703 0 -0.048054314147865956" />
        <axis xyz="0.49969899116506866 0.7071067811865476 0.5003008277312888" />
        <dynamics damping="0.0" friction="0.001" />
        <parent link="left_back_wheel" />
        <child link="left_back_roller_2" />
    </joint>
    <gazebo reference="left_back_roller_2">
        <mu1 value="2000.0" />
        <mu2 value="2000.0" />
        <kp value="1000000.0" />
        <kd value="100.0" />
        <material>Gazebo/Black</material>
    </gazebo>
    <!--  link  -->
    <link name="left_back_roller_3">
        <collision>
            <geometry>
                <sphere radius="0.009" />
            </geometry>
        </collision>
        <inertial>
            <mass value="0.036" />
            <inertia ixx="3128e-9" ixy="0.0" ixz="0.0" iyy="3128e-9" iyz="0.0" izz="3128e-9" />
            <origin xyz="0 0 0" rpy="0 0 0" />
        </inertial>
    </link>
    <joint name="left_back_roller_3_joint" type="continuous">
        <origin rpy="0 0 0" xyz="0.06284727452340379 0 -0.025965748303869884" />
        <axis xyz="0.2700081868271984 0.7071067811865476 0.6535254999204613" />
        <dynamics damping="0.0" friction="0.001" />
        <parent link="left_back_wheel" />
        <child link="left_back_roller_3" />
    </joint>
    <gazebo reference="left_back_roller_3">
        <mu1 value="2000.0" />
        <mu2 value="2000.0" />
        <kp value="1000000.0" />
        <kd value="100.0" />
        <material>Gazebo/Black</material>
    </gazebo>
    <!--  link  -->
    <link name="left_back_roller_4">
        <collision>
            <geometry>
                <sphere radius="0.009" />
            </geometry>
        </collision>
        <inertial>
            <mass value="0.036" />
            <inertia ixx="3128e-9" ixy="0.0" ixz="0.0" iyy="3128e-9" iyz="0.0" izz="3128e-9" />
            <origin xyz="0 0 0" rpy="0 0 0" />
        </inertial>
    </link>
    <joint name="left_back_roller_4_joint" type="continuous">
        <origin rpy="0 0 0" xyz="0.06799995073981367 0 8.184975818264867e-05" />
        <axis xyz="-0.0008511252801386329 0.7071067811865476 0.7071062689481388" />
        <dynamics damping="0.0" friction="0.001" />
        <parent link="left_back_wheel" />
        <child link="left_back_roller_4" />
    </joint>
    <gazebo reference="left_back_roller_4">
        <mu1 value="2000.0" />
        <mu2 value="2000.0" />
        <kp value="1000000.0" />
        <kd value="100.0" />
        <material>Gazebo/Black</material>
    </gazebo>
    <!--  link  -->
    <link name="left_back_roller_5">
        <collision>
            <geometry>
                <sphere radius="0.009" />
            </geometry>
        </collision>
        <inertial>
            <mass value="0.036" />
            <inertia ixx="3128e-9" ixy="0.0" ixz="0.0" iyy="3128e-9" iyz="0.0" izz="3128e-9" />
            <origin xyz="0 0 0" rpy="0 0 0" />
        </inertial>
    </link>
    <joint name="left_back_roller_5_joint" type="continuous">
        <origin rpy="0 0 0" xyz="0.06278458392296919 0 0.026116968078619688" />
        <axis xyz="-0.27158066518271434 0.7071067811865476 0.6528736036162853" />
        <dynamics damping="0.0" friction="0.001" />
        <parent link="left_back_wheel" />
        <child link="left_back_roller_5" />
    </joint>
    <gazebo reference="left_back_roller_5">
        <mu1 value="2000.0" />
        <mu2 value="2000.0" />
        <kp value="1000000.0" />
        <kd value="100.0" />
        <material>Gazebo/Black</material>
    </gazebo>
    <!--  link  -->
    <link name="left_back_roller_6">
        <collision>
            <geometry>
                <sphere radius="0.009" />
            </geometry>
        </collision>
        <inertial>
            <mass value="0.036" />
            <inertia ixx="3128e-9" ixy="0.0" ixz="0.0" iyy="3128e-9" iyz="0.0" izz="3128e-9" />
            <origin xyz="0 0 0" rpy="0 0 0" />
        </inertial>
    </link>
    <joint name="left_back_roller_6_joint" type="continuous">
        <origin rpy="0 0 0" xyz="0.0479963679958505 0 0.04816999750059053" />
        <axis xyz="-0.5009019394471561 0.7071067811865476 0.499096430620454" />
        <dynamics damping="0.0" friction="0.001" />
        <parent link="left_back_wheel" />
        <child link="left_back_roller_6" />
    </joint>
    <gazebo reference="left_back_roller_6">
        <mu1 value="2000.0" />
        <mu2 value="2000.0" />
        <kp value="1000000.0" />
        <kd value="100.0" />
        <material>Gazebo/Black</material>
    </gazebo>
    <!--  link  -->
    <link name="left_back_roller_7">
        <collision>
            <geometry>
                <sphere radius="0.009" />
            </geometry>
        </collision>
        <inertial>
            <mass value="0.036" />
            <inertia ixx="3128e-9" ixy="0.0" ixz="0.0" iyy="3128e-9" iyz="0.0" izz="3128e-9" />
            <origin xyz="0 0 0" rpy="0 0 0" />
        </inertial>
    </link>
    <joint name="left_back_roller_7_joint" type="continuous">
        <origin rpy="0 0 0" xyz="0.0258900819318143 0 0.06287848326386335" />
        <axis xyz="-0.6538500280382736 0.7071067811865476 0.2692213602861942" />
        <dynamics damping="0.0" friction="0.001" />
        <parent link="left_back_wheel" />
        <child link="left_back_roller_7" />
    </joint>
    <gazebo reference="left_back_roller_7">
        <mu1 value="2000.0" />
        <mu2 value="2000.0" />
        <kp value="1000000.0" />
        <kd value="100.0" />
        <material>Gazebo/Black</material>
    </gazebo>
    <!--  link  -->
    <link name="left_back_roller_8">
        <collision>
            <geometry>
                <sphere radius="0.009" />
            </geometry>
        </collision>
        <inertial>
            <mass value="0.036" />
            <inertia ixx="3128e-9" ixy="0.0" ixz="0.0" iyy="3128e-9" iyz="0.0" izz="3128e-9" />
            <origin xyz="0 0 0" rpy="0 0 0" />
        </inertial>
    </link>
    <joint name="left_back_roller_8_joint" type="continuous">
        <origin rpy="0 0 0" xyz="-0.00016369939777898906 0 0.06799980295932605" />
        <axis xyz="-0.7071047322336546 0.7071067811865476 -0.0017022493271422689" />
        <dynamics damping="0.0" friction="0.001" />
        <parent link="left_back_wheel" />
        <child link="left_back_roller_8" />
    </joint>
    <gazebo reference="left_back_roller_8">
        <mu1 value="2000.0" />
        <mu2 value="2000.0" />
        <kp value="1000000.0" />
        <kd value="100.0" />
        <material>Gazebo/Black</material>
    </gazebo>
    <!--  link  -->
    <link name="left_back_roller_9">
        <collision>
            <geometry>
                <sphere radius="0.009" />
            </geometry>
        </collision>
        <inertial>
            <mass value="0.036" />
            <inertia ixx="3128e-9" ixy="0.0" ixz="0.0" iyy="3128e-9" iyz="0.0" izz="3128e-9" />
            <origin xyz="0 0 0" rpy="0 0 0" />
        </inertial>
    </link>
    <joint name="left_back_roller_9_joint" type="continuous">
        <origin rpy="0 0 0" xyz="-0.026192521262222306 0 0.06275310215382211" />
        <axis xyz="-0.6525462363744081 0.7071067811865476 -0.2723663147189738" />
        <dynamics damping="0.0" friction="0.001" />
        <parent link="left_back_wheel" />
        <child link="left_back_roller_9" />
    </joint>
    <gazebo reference="left_back_roller_9">
        <mu1 value="2000.0" />
        <mu2 value="2000.0" />
        <kp value="1000000.0" />
        <kd value="100.0" />
        <material>Gazebo/Black</material>
    </gazebo>
    <!--  link  -->
    <link name="left_back_roller_10">
        <collision>
            <geometry>
                <sphere radius="0.009" />
            </geometry>
        </collision>
        <inertial>
            <mass value="0.036" />
            <inertia ixx="3128e-9" ixy="0.0" ixz="0.0" iyy="3128e-9" iyz="0.0" izz="3128e-9" />
            <origin xyz="0 0 0" rpy="0 0 0" />
        </inertial>
    </link>
    <joint name="left_back_roller_10_joint" type="continuous">
        <origin rpy="0 0 0" xyz="-0.048227734533694264 0 0.04793835230530472" />
        <axis xyz="-0.49849314697045194 0.7071067811865476 -0.5015023254417625" />
        <dynamics damping="0.0" friction="0.001" />
        <parent link="left_back_wheel" />
        <child link="left_back_roller_10" />
    </joint>
    <gazebo reference="left_back_roller_10">
        <mu1 value="2000.0" />
        <mu2 value="2000.0" />
        <kp value="1000000.0" />
        <kd value="100.0" />
        <material>Gazebo/Black</material>
    </gazebo>
    <!--  link  -->
    <link name="left_back_roller_11">
        <collision>
            <geometry>
                <sphere radius="0.009" />
            </geometry>
        </collision>
        <inertial>
            <mass value="0.036" />
            <inertia ixx="3128e-9" ixy="0.0" ixz="0.0" iyy="3128e-9" iyz="0.0" izz="3128e-9" />
            <origin xyz="0 0 0" rpy="0 0 0" />
        </inertial>
    </link>
    <joint name="left_back_roller_11_joint" type="continuous">
        <origin rpy="0 0 0" xyz="-0.06290960090415226 0 0.02581437804945697" />
        <axis xyz="-0.2684341436894733 0.7071067811865476 -0.6541736088391974" />
        <dynamics damping="0.0" friction="0.001" />
        <parent link="left_back_wheel" />
        <child link="left_back_roller_11" />
    </joint>
    <gazebo reference="left_back_roller_11">
        <mu1 value="2000.0" />
        <mu2 value="2000.0" />
        <kp value="1000000.0" />
        <kd value="100.0" />
        <material>Gazebo/Black</material>
    </gazebo>
    <!--  link  -->
    <link name="left_back_roller_12">
        <collision>
            <geometry>
                <sphere radius="0.009" />
            </geometry>
        </collision>
        <inertial>
            <mass value="0.036" />
            <inertia ixx="3128e-9" ixy="0.0" ixz="0.0" iyy="3128e-9" iyz="0.0" izz="3128e-9" />
            <origin xyz="0 0 0" rpy="0 0 0" />
        </inertial>
    </link>
    <joint name="left_back_roller_12_joint" type="continuous">
        <origin rpy="0 0 0" xyz="-0.06799955665875124 0 -0.0002455488002028931" />
        <axis xyz="0.002553370907877698 0.7071067811865476 -0.7071021710453214" />
        <dynamics damping="0.0" friction="0.001" />
        <parent link="left_back_wheel" />
        <child link="left_back_roller_12" />
    </joint>
    <gazebo reference="left_back_roller_12">
        <mu1 value="2000.0" />
        <mu2 value="2000.0" />
        <kp value="1000000.0" />
        <kd value="100.0" />
        <material>Gazebo/Black</material>
    </gazebo>
    <!--  link  -->
    <link name="left_back_roller_13">
        <collision>
            <geometry>
                <sphere radius="0.009" />
            </geometry>
        </collision>
        <inertial>
            <mass value="0.036" />
            <inertia ixx="3128e-9" ixy="0.0" ixz="0.0" iyy="3128e-9" iyz="0.0" izz="3128e-9" />
            <origin xyz="0 0 0" rpy="0 0 0" />
        </inertial>
    </link>
    <joint name="left_back_roller_13_joint" type="continuous">
        <origin rpy="0 0 0" xyz="-0.06272152946616016 0 -0.026268036497340295" />
        <axis xyz="0.2731515696430154 0.7071067811865476 -0.6522179237046135" />
        <dynamics damping="0.0" friction="0.001" />
        <parent link="left_back_wheel" />
        <child link="left_back_roller_13" />
    </joint>
    <gazebo reference="left_back_roller_13">
        <mu1 value="2000.0" />
        <mu2 value="2000.0" />
        <kp value="1000000.0" />
        <kd value="100.0" />
        <material>Gazebo/Black</material>
    </gazebo>
    <!--  link  -->
    <link name="left_back_roller_14">
        <collision>
            <geometry>
                <sphere radius="0.009" />
            </geometry>
        </collision>
        <inertial>
            <mass value="0.036" />
            <inertia ixx="3128e-9" ixy="0.0" ixz="0.0" iyy="3128e-9" iyz="0.0" izz="3128e-9" />
            <origin xyz="0 0 0" rpy="0 0 0" />
        </inertial>
    </link>
    <joint name="left_back_roller_14_joint" type="continuous">
        <origin rpy="0 0 0" xyz="-0.04788026716028342 0 -0.04828540169305713" />
        <axis xyz="0.5021019848452515 0.7071067811865476 -0.49788914108911725" />
        <dynamics damping="0.0" friction="0.001" />
        <parent link="left_back_wheel" />
        <child link="left_back_roller_14" />
    </joint>
    <gazebo reference="left_back_roller_14">
        <mu1 value="2000.0" />
        <mu2 value="2000.0" />
        <kp value="1000000.0" />
        <kd value="100.0" />
        <material>Gazebo/Black</material>
    </gazebo>
    <!--  link  -->
    <link name="left_back_roller_15">
        <collision>
            <geometry>
                <sphere radius="0.009" />
            </geometry>
        </collision>
        <inertial>
            <mass value="0.036" />
            <inertia ixx="3128e-9" ixy="0.0" ixz="0.0" iyy="3128e-9" iyz="0.0" izz="3128e-9" />
            <origin xyz="0 0 0" rpy="0 0 0" />
        </inertial>
    </link>
    <joint name="left_back_roller_15_joint" type="continuous">
        <origin rpy="0 0 0" xyz="-0.025738636766479847 0 -0.06294062739918639" />
        <axis xyz="0.6544962418544192 0.7071067811865476 -0.2676465381775779" />
        <dynamics damping="0.0" friction="0.001" />
        <parent link="left_back_wheel" />
        <child link="left_back_roller_15" />
    </joint>
    <gazebo reference="left_back_roller_15">
        <mu1 value="2000.0" />
        <mu2 value="2000.0" />
        <kp value="1000000.0" />
        <kd value="100.0" />
        <material>Gazebo/Black</material>
    </gazebo>
    <!--  link  -->
    <link name="right_back_wheel">
        <visual>
            <geometry>
                <mesh filename="package://sp_description/meshes/common/mecanum_wheel/right_mecanum_wheel.STL" />
            </geometry>
        </visual>
        <inertial>
            <mass value="0.4235" />
            <inertia ixx="4.122e-4" ixy="0.0" ixz="0.0" iyy="7.398e-4" iyz="0.0" izz="4.122e-4" />
        </inertial>
    </link>
    <!--  joint  -->
    <joint name="right_back_wheel_joint" type="revolute">
        <axis xyz="0 1 0" />
        <origin rpy="0 0 0" xyz="-0.19152 -0.221 0.077" />
        <!--      limit not work while type="continuous"-->
        <limit effort="10" lower="-1e9" upper="1e9" velocity="70" />
        <dynamics damping="0.0" friction="0.05" />
        <parent link="base_link" />
        <child link="right_back_wheel" />
    </joint>
    <!--  link  -->
    <link name="right_back_roller_0">
        <collision>
            <geometry>
                <sphere radius="0.009" />
            </geometry>
        </collision>
        <inertial>
            <mass value="0.036" />
            <inertia ixx="3128e-9" ixy="0.0" ixz="0.0" iyy="3128e-9" iyz="0.0" izz="3128e-9" />
            <origin xyz="0 0 0" rpy="0 0 0" />
        </inertial>
    </link>
    <joint name="right_back_roller_0_joint" type="continuous">
        <origin rpy="0 0 0" xyz="4.163799117101001e-18 0 -0.068" />
        <axis xyz="0.7071067811865476 -0.7071067811865476 0.0" />
        <dynamics damping="0.0" friction="0.001" />
        <parent link="right_back_wheel" />
        <child link="right_back_roller_0" />
    </joint>
    <gazebo reference="right_back_roller_0">
        <mu1 value="2000.0" />
        <mu2 value="2000.0" />
        <kp value="1000000.0" />
        <kd value="100.0" />
        <material>Gazebo/Black</material>
    </gazebo>
    <!--  link  -->
    <link name="right_back_roller_1">
        <collision>
            <geometry>
                <sphere radius="0.009" />
            </geometry>
        </collision>
        <inertial>
            <mass value="0.036" />
            <inertia ixx="3128e-9" ixy="0.0" ixz="0.0" iyy="3128e-9" iyz="0.0" izz="3128e-9" />
            <origin xyz="0 0 0" rpy="0 0 0" />
        </inertial>
    </link>
    <joint name="right_back_roller_1_joint" type="continuous">
        <origin rpy="0 0 0" xyz="0.026041377055996056 0 -0.06281597472798972" />
        <axis xyz="0.653200024955946 -0.7071067811865476 0.27079462217250855" />
        <dynamics damping="0.0" friction="0.001" />
        <parent link="right_back_wheel" />
        <child link="right_back_roller_1" />
    </joint>
    <gazebo reference="right_back_roller_1">
        <mu1 value="2000.0" />
        <mu2 value="2000.0" />
        <kp value="1000000.0" />
        <kd value="100.0" />
        <material>Gazebo/Black</material>
    </gazebo>
    <!--  link  -->
    <link name="right_back_roller_2">
        <collision>
            <geometry>
                <sphere radius="0.009" />
            </geometry>
        </collision>
        <inertial>
            <mass value="0.036" />
            <inertia ixx="3128e-9" ixy="0.0" ixz="0.0" iyy="3128e-9" iyz="0.0" izz="3128e-9" />
            <origin xyz="0 0 0" rpy="0 0 0" />
        </inertial>
    </link>
    <joint name="right_back_roller_2_joint" type="continuous">
        <origin rpy="0 0 0" xyz="0.04811219067739703 0 -0.048054314147865956" />
        <axis xyz="0.49969899116506866 -0.7071067811865476 0.5003008277312888" />
        <dynamics damping="0.0" friction="0.001" />
        <parent link="right_back_wheel" />
        <child link="right_back_roller_2" />
    </joint>
    <gazebo reference="right_back_roller_2">
        <mu1 value="2000.0" />
        <mu2 value="2000.0" />
        <kp value="1000000.0" />
        <kd value="100.0" />
        <material>Gazebo/Black</material>
    </gazebo>
    <!--  link  -->
    <link name="right_back_roller_3">
        <collision>
            <geometry>
                <sphere radius="0.009" />
            </geometry>
        </collision>
        <inertial>
            <mass value="0.036" />
            <inertia ixx="3128e-9" ixy="0.0" ixz="0.0" iyy="3128e-9" iyz="0.0" izz="3128e-9" />
            <origin xyz="0 0 0" rpy="0 0 0" />
        </inertial>
    </link>
    <joint name="right_back_roller_3_joint" type="continuous">
        <origin rpy="0 0 0" xyz="0.06284727452340379 0 -0.025965748303869884" />
        <axis xyz="0.2700081868271984 -0.7071067811865476 0.6535254999204613" />
        <dynamics damping="0.0" friction="0.001" />
        <parent link="right_back_wheel" />
        <child link="right_back_roller_3" />
    </joint>
    <gazebo reference="right_back_roller_3">
        <mu1 value="2000.0" />
        <mu2 value="2000.0" />
        <kp value="1000000.0" />
        <kd value="100.0" />
        <material>Gazebo/Black</material>
    </gazebo>
    <!--  link  -->
    <link name="right_back_roller_4">
        <collision>
            <geometry>
                <sphere radius="0.009" />
            </geometry>
        </collision>
        <inertial>
            <mass value="0.036" />
            <inertia ixx="3128e-9" ixy="0.0" ixz="0.0" iyy="3128e-9" iyz="0.0" izz="3128e-9" />
            <origin xyz="0 0 0" rpy="0 0 0" />
        </inertial>
    </link>
    <joint name="right_back_roller_4_joint" type="continuous">
        <origin rpy="0 0 0" xyz="0.06799995073981367 0 8.184975818264867e-05" />
        <axis xyz="-0.0008511252801386329 -0.7071067811865476 0.7071062689481388" />
        <dynamics damping="0.0" friction="0.001" />
        <parent link="right_back_wheel" />
        <child link="right_back_roller_4" />
    </joint>
    <gazebo reference="right_back_roller_4">
        <mu1 value="2000.0" />
        <mu2 value="2000.0" />
        <kp value="1000000.0" />
        <kd value="100.0" />
        <material>Gazebo/Black</material>
    </gazebo>
    <!--  link  -->
    <link name="right_back_roller_5">
        <collision>
            <geometry>
                <sphere radius="0.009" />
            </geometry>
        </collision>
        <inertial>
            <mass value="0.036" />
            <inertia ixx="3128e-9" ixy="0.0" ixz="0.0" iyy="3128e-9" iyz="0.0" izz="3128e-9" />
            <origin xyz="0 0 0" rpy="0 0 0" />
        </inertial>
    </link>
    <joint name="right_back_roller_5_joint" type="continuous">
        <origin rpy="0 0 0" xyz="0.06278458392296919 0 0.026116968078619688" />
        <axis xyz="-0.27158066518271434 -0.7071067811865476 0.6528736036162853" />
        <dynamics damping="0.0" friction="0.001" />
        <parent link="right_back_wheel" />
        <child link="right_back_roller_5" />
    </joint>
    <gazebo reference="right_back_roller_5">
        <mu1 value="2000.0" />
        <mu2 value="2000.0" />
        <kp value="1000000.0" />
        <kd value="100.0" />
        <material>Gazebo/Black</material>
    </gazebo>
    <!--  link  -->
    <link name="right_back_roller_6">
        <collision>
            <geometry>
                <sphere radius="0.009" />
            </geometry>
        </collision>
        <inertial>
            <mass value="0.036" />
            <inertia ixx="3128e-9" ixy="0.0" ixz="0.0" iyy="3128e-9" iyz="0.0" izz="3128e-9" />
            <origin xyz="0 0 0" rpy="0 0 0" />
        </inertial>
    </link>
    <joint name="right_back_roller_6_joint" type="continuous">
        <origin rpy="0 0 0" xyz="0.0479963679958505 0 0.04816999750059053" />
        <axis xyz="-0.5009019394471561 -0.7071067811865476 0.499096430620454" />
        <dynamics damping="0.0" friction="0.001" />
        <parent link="right_back_wheel" />
        <child link="right_back_roller_6" />
    </joint>
    <gazebo reference="right_back_roller_6">
        <mu1 value="2000.0" />
        <mu2 value="2000.0" />
        <kp value="1000000.0" />
        <kd value="100.0" />
        <material>Gazebo/Black</material>
    </gazebo>
    <!--  link  -->
    <link name="right_back_roller_7">
        <collision>
            <geometry>
                <sphere radius="0.009" />
            </geometry>
        </collision>
        <inertial>
            <mass value="0.036" />
            <inertia ixx="3128e-9" ixy="0.0" ixz="0.0" iyy="3128e-9" iyz="0.0" izz="3128e-9" />
            <origin xyz="0 0 0" rpy="0 0 0" />
        </inertial>
    </link>
    <joint name="right_back_roller_7_joint" type="continuous">
        <origin rpy="0 0 0" xyz="0.0258900819318143 0 0.06287848326386335" />
        <axis xyz="-0.6538500280382736 -0.7071067811865476 0.2692213602861942" />
        <dynamics damping="0.0" friction="0.001" />
        <parent link="right_back_wheel" />
        <child link="right_back_roller_7" />
    </joint>
    <gazebo reference="right_back_roller_7">
        <mu1 value="2000.0" />
        <mu2 value="2000.0" />
        <kp value="1000000.0" />
        <kd value="100.0" />
        <material>Gazebo/Black</material>
    </gazebo>
    <!--  link  -->
    <link name="right_back_roller_8">
        <collision>
            <geometry>
                <sphere radius="0.009" />
            </geometry>
        </collision>
        <inertial>
            <mass value="0.036" />
            <inertia ixx="3128e-9" ixy="0.0" ixz="0.0" iyy="3128e-9" iyz="0.0" izz="3128e-9" />
            <origin xyz="0 0 0" rpy="0 0 0" />
        </inertial>
    </link>
    <joint name="right_back_roller_8_joint" type="continuous">
        <origin rpy="0 0 0" xyz="-0.00016369939777898906 0 0.06799980295932605" />
        <axis xyz="-0.7071047322336546 -0.7071067811865476 -0.0017022493271422689" />
        <dynamics damping="0.0" friction="0.001" />
        <parent link="right_back_wheel" />
        <child link="right_back_roller_8" />
    </joint>
    <gazebo reference="right_back_roller_8">
        <mu1 value="2000.0" />
        <mu2 value="2000.0" />
        <kp value="1000000.0" />
        <kd value="100.0" />
        <material>Gazebo/Black</material>
    </gazebo>
    <!--  link  -->
    <link name="right_back_roller_9">
        <collision>
            <geometry>
                <sphere radius="0.009" />
            </geometry>
        </collision>
        <inertial>
            <mass value="0.036" />
            <inertia ixx="3128e-9" ixy="0.0" ixz="0.0" iyy="3128e-9" iyz="0.0" izz="3128e-9" />
            <origin xyz="0 0 0" rpy="0 0 0" />
        </inertial>
    </link>
    <joint name="right_back_roller_9_joint" type="continuous">
        <origin rpy="0 0 0" xyz="-0.026192521262222306 0 0.06275310215382211" />
        <axis xyz="-0.6525462363744081 -0.7071067811865476 -0.2723663147189738" />
        <dynamics damping="0.0" friction="0.001" />
        <parent link="right_back_wheel" />
        <child link="right_back_roller_9" />
    </joint>
    <gazebo reference="right_back_roller_9">
        <mu1 value="2000.0" />
        <mu2 value="2000.0" />
        <kp value="1000000.0" />
        <kd value="100.0" />
        <material>Gazebo/Black</material>
    </gazebo>
    <!--  link  -->
    <link name="right_back_roller_10">
        <collision>
            <geometry>
                <sphere radius="0.009" />
            </geometry>
        </collision>
        <inertial>
            <mass value="0.036" />
            <inertia ixx="3128e-9" ixy="0.0" ixz="0.0" iyy="3128e-9" iyz="0.0" izz="3128e-9" />
            <origin xyz="0 0 0" rpy="0 0 0" />
        </inertial>
    </link>
    <joint name="right_back_roller_10_joint" type="continuous">
        <origin rpy="0 0 0" xyz="-0.048227734533694264 0 0.04793835230530472" />
        <axis xyz="-0.49849314697045194 -0.7071067811865476 -0.5015023254417625" />
        <dynamics damping="0.0" friction="0.001" />
        <parent link="right_back_wheel" />
        <child link="right_back_roller_10" />
    </joint>
    <gazebo reference="right_back_roller_10">
        <mu1 value="2000.0" />
        <mu2 value="2000.0" />
        <kp value="1000000.0" />
        <kd value="100.0" />
        <material>Gazebo/Black</material>
    </gazebo>
    <!--  link  -->
    <link name="right_back_roller_11">
        <collision>
            <geometry>
                <sphere radius="0.009" />
            </geometry>
        </collision>
        <inertial>
            <mass value="0.036" />
            <inertia ixx="3128e-9" ixy="0.0" ixz="0.0" iyy="3128e-9" iyz="0.0" izz="3128e-9" />
            <origin xyz="0 0 0" rpy="0 0 0" />
        </inertial>
    </link>
    <joint name="right_back_roller_11_joint" type="continuous">
        <origin rpy="0 0 0" xyz="-0.06290960090415226 0 0.02581437804945697" />
        <axis xyz="-0.2684341436894733 -0.7071067811865476 -0.6541736088391974" />
        <dynamics damping="0.0" friction="0.001" />
        <parent link="right_back_wheel" />
        <child link="right_back_roller_11" />
    </joint>
    <gazebo reference="right_back_roller_11">
        <mu1 value="2000.0" />
        <mu2 value="2000.0" />
        <kp value="1000000.0" />
        <kd value="100.0" />
        <material>Gazebo/Black</material>
    </gazebo>
    <!--  link  -->
    <link name="right_back_roller_12">
        <collision>
            <geometry>
                <sphere radius="0.009" />
            </geometry>
        </collision>
        <inertial>
            <mass value="0.036" />
            <inertia ixx="3128e-9" ixy="0.0" ixz="0.0" iyy="3128e-9" iyz="0.0" izz="3128e-9" />
            <origin xyz="0 0 0" rpy="0 0 0" />
        </inertial>
    </link>
    <joint name="right_back_roller_12_joint" type="continuous">
        <origin rpy="0 0 0" xyz="-0.06799955665875124 0 -0.0002455488002028931" />
        <axis xyz="0.002553370907877698 -0.7071067811865476 -0.7071021710453214" />
        <dynamics damping="0.0" friction="0.001" />
        <parent link="right_back_wheel" />
        <child link="right_back_roller_12" />
    </joint>
    <gazebo reference="right_back_roller_12">
        <mu1 value="2000.0" />
        <mu2 value="2000.0" />
        <kp value="1000000.0" />
        <kd value="100.0" />
        <material>Gazebo/Black</material>
    </gazebo>
    <!--  link  -->
    <link name="right_back_roller_13">
        <collision>
            <geometry>
                <sphere radius="0.009" />
            </geometry>
        </collision>
        <inertial>
            <mass value="0.036" />
            <inertia ixx="3128e-9" ixy="0.0" ixz="0.0" iyy="3128e-9" iyz="0.0" izz="3128e-9" />
            <origin xyz="0 0 0" rpy="0 0 0" />
        </inertial>
    </link>
    <joint name="right_back_roller_13_joint" type="continuous">
        <origin rpy="0 0 0" xyz="-0.06272152946616016 0 -0.026268036497340295" />
        <axis xyz="0.2731515696430154 -0.7071067811865476 -0.6522179237046135" />
        <dynamics damping="0.0" friction="0.001" />
        <parent link="right_back_wheel" />
        <child link="right_back_roller_13" />
    </joint>
    <gazebo reference="right_back_roller_13">
        <mu1 value="2000.0" />
        <mu2 value="2000.0" />
        <kp value="1000000.0" />
        <kd value="100.0" />
        <material>Gazebo/Black</material>
    </gazebo>
    <!--  link  -->
    <link name="right_back_roller_14">
        <collision>
            <geometry>
                <sphere radius="0.009" />
            </geometry>
        </collision>
        <inertial>
            <mass value="0.036" />
            <inertia ixx="3128e-9" ixy="0.0" ixz="0.0" iyy="3128e-9" iyz="0.0" izz="3128e-9" />
            <origin xyz="0 0 0" rpy="0 0 0" />
        </inertial>
    </link>
    <joint name="right_back_roller_14_joint" type="continuous">
        <origin rpy="0 0 0" xyz="-0.04788026716028342 0 -0.04828540169305713" />
        <axis xyz="0.5021019848452515 -0.7071067811865476 -0.49788914108911725" />
        <dynamics damping="0.0" friction="0.001" />
        <parent link="right_back_wheel" />
        <child link="right_back_roller_14" />
    </joint>
    <gazebo reference="right_back_roller_14">
        <mu1 value="2000.0" />
        <mu2 value="2000.0" />
        <kp value="1000000.0" />
        <kd value="100.0" />
        <material>Gazebo/Black</material>
    </gazebo>
    <!--  link  -->
    <link name="right_back_roller_15">
        <collision>
            <geometry>
                <sphere radius="0.009" />
            </geometry>
        </collision>
        <inertial>
            <mass value="0.036" />
            <inertia ixx="3128e-9" ixy="0.0" ixz="0.0" iyy="3128e-9" iyz="0.0" izz="3128e-9" />
            <origin xyz="0 0 0" rpy="0 0 0" />
        </inertial>
    </link>
    <joint name="right_back_roller_15_joint" type="continuous">
        <origin rpy="0 0 0" xyz="-0.025738636766479847 0 -0.06294062739918639" />
        <axis xyz="0.6544962418544192 -0.7071067811865476 -0.2676465381775779" />
        <dynamics damping="0.0" friction="0.001" />
        <parent link="right_back_wheel" />
        <child link="right_back_roller_15" />
    </joint>
    <gazebo reference="right_back_roller_15">
        <mu1 value="2000.0" />
        <mu2 value="2000.0" />
        <kp value="1000000.0" />
        <kd value="100.0" />
        <material>Gazebo/Black</material>
    </gazebo>
    <transmission name="left_front_wheel_trans">
        <type>transmission_interface/SimpleTransmission</type>
        <actuator name="left_front_wheel_motor">
            <hardwareInterface>hardware_interface/EffortJointInterface</hardwareInterface>
            <mechanicalReduction>19.2032</mechanicalReduction>
        </actuator>
        <joint name="left_front_wheel_joint">
            <hardwareInterface>hardware_interface/EffortJointInterface</hardwareInterface>
        </joint>
    </transmission>
    <transmission name="right_front_wheel_trans">
        <type>transmission_interface/SimpleTransmission</type>
        <actuator name="right_front_wheel_motor">
            <hardwareInterface>hardware_interface/EffortJointInterface</hardwareInterface>
            <mechanicalReduction>-19.2032</mechanicalReduction>
        </actuator>
        <joint name="right_front_wheel_joint">
            <hardwareInterface>hardware_interface/EffortJointInterface</hardwareInterface>
        </joint>
    </transmission>
    <transmission name="left_back_wheel_trans">
        <type>transmission_interface/SimpleTransmission</type>
        <actuator name="left_back_wheel_motor">
            <hardwareInterface>hardware_interface/EffortJointInterface</hardwareInterface>
            <mechanicalReduction>19.2032</mechanicalReduction>
        </actuator>
        <joint name="left_back_wheel_joint">
            <hardwareInterface>hardware_interface/EffortJointInterface</hardwareInterface>
        </joint>
    </transmission>
    <transmission name="right_back_wheel_trans">
        <type>transmission_interface/SimpleTransmission</type>
        <actuator name="right_back_wheel_motor">
            <hardwareInterface>hardware_interface/EffortJointInterface</hardwareInterface>
            <mechanicalReduction>-19.2032</mechanicalReduction>
        </actuator>
        <joint name="right_back_wheel_joint">
            <hardwareInterface>hardware_interface/EffortJointInterface</hardwareInterface>
        </joint>
    </transmission>
    <joint name="joint_arm2body" type="fixed">
        <axis xyz="0 0 1" />
        <origin rpy="0 0 -1.57" xyz="-0.006 -0 0.12028" />
        <parent link="base_link" />
        <child link="arm_base_link" />
    </joint>
    <!--在机器人模型的urdf/xacro文件中添加gazebo_ros_control插件-->
    <gazebo>
        <plugin filename="libgazebo_ros_control.so" name="gazebo_ros_control">
            <robotNamespace>/</robotNamespace>
        </plugin>
        <plugin filename="libchassis_controller.so" name="chassis_controller">
            <robotNamespace>/</robotNamespace>
        </plugin>
    </gazebo>
    <transmission name="trans_left_front_roller_0_joint">
        <type>transmission_interface/SimpleTransmission</type>
        <joint name="left_front_roller_0_joint">
            <hardwareInterface>hardware_interface/EffortJointInterface</hardwareInterface>
        </joint>
        <actuator name="left_front_roller_0_joint_motor">
            <hardwareInterface>hardware_interface/EffortJointInterface</hardwareInterface>
            <mechanicalReduction>1</mechanicalReduction>
        </actuator>
    </transmission>
    <transmission name="trans_left_front_roller_1_joint">
        <type>transmission_interface/SimpleTransmission</type>
        <joint name="left_front_roller_1_joint">
            <hardwareInterface>hardware_interface/EffortJointInterface</hardwareInterface>
        </joint>
        <actuator name="left_front_roller_1_joint_motor">
            <hardwareInterface>hardware_interface/EffortJointInterface</hardwareInterface>
            <mechanicalReduction>1</mechanicalReduction>
        </actuator>
    </transmission>
    <transmission name="trans_left_front_roller_2_joint">
        <type>transmission_interface/SimpleTransmission</type>
        <joint name="left_front_roller_2_joint">
            <hardwareInterface>hardware_interface/EffortJointInterface</hardwareInterface>
        </joint>
        <actuator name="left_front_roller_2_joint_motor">
            <hardwareInterface>hardware_interface/EffortJointInterface</hardwareInterface>
            <mechanicalReduction>1</mechanicalReduction>
        </actuator>
    </transmission>
    <transmission name="trans_left_front_roller_3_joint">
        <type>transmission_interface/SimpleTransmission</type>
        <joint name="left_front_roller_3_joint">
            <hardwareInterface>hardware_interface/EffortJointInterface</hardwareInterface>
        </joint>
        <actuator name="left_front_roller_3_joint_motor">
            <hardwareInterface>hardware_interface/EffortJointInterface</hardwareInterface>
            <mechanicalReduction>1</mechanicalReduction>
        </actuator>
    </transmission>
    <transmission name="trans_left_front_roller_4_joint">
        <type>transmission_interface/SimpleTransmission</type>
        <joint name="left_front_roller_4_joint">
            <hardwareInterface>hardware_interface/EffortJointInterface</hardwareInterface>
        </joint>
        <actuator name="left_front_roller_4_joint_motor">
            <hardwareInterface>hardware_interface/EffortJointInterface</hardwareInterface>
            <mechanicalReduction>1</mechanicalReduction>
        </actuator>
    </transmission>
    <transmission name="trans_left_front_roller_5_joint">
        <type>transmission_interface/SimpleTransmission</type>
        <joint name="left_front_roller_5_joint">
            <hardwareInterface>hardware_interface/EffortJointInterface</hardwareInterface>
        </joint>
        <actuator name="left_front_roller_5_joint_motor">
            <hardwareInterface>hardware_interface/EffortJointInterface</hardwareInterface>
            <mechanicalReduction>1</mechanicalReduction>
        </actuator>
    </transmission>
    <transmission name="trans_left_front_roller_6_joint">
        <type>transmission_interface/SimpleTransmission</type>
        <joint name="left_front_roller_6_joint">
            <hardwareInterface>hardware_interface/EffortJointInterface</hardwareInterface>
        </joint>
        <actuator name="left_front_roller_6_joint_motor">
            <hardwareInterface>hardware_interface/EffortJointInterface</hardwareInterface>
            <mechanicalReduction>1</mechanicalReduction>
        </actuator>
    </transmission>
    <transmission name="trans_left_front_roller_7_joint">
        <type>transmission_interface/SimpleTransmission</type>
        <joint name="left_front_roller_7_joint">
            <hardwareInterface>hardware_interface/EffortJointInterface</hardwareInterface>
        </joint>
        <actuator name="left_front_roller_7_joint_motor">
            <hardwareInterface>hardware_interface/EffortJointInterface</hardwareInterface>
            <mechanicalReduction>1</mechanicalReduction>
        </actuator>
    </transmission>
    <transmission name="trans_left_front_roller_8_joint">
        <type>transmission_interface/SimpleTransmission</type>
        <joint name="left_front_roller_8_joint">
            <hardwareInterface>hardware_interface/EffortJointInterface</hardwareInterface>
        </joint>
        <actuator name="left_front_roller_8_joint_motor">
            <hardwareInterface>hardware_interface/EffortJointInterface</hardwareInterface>
            <mechanicalReduction>1</mechanicalReduction>
        </actuator>
    </transmission>
    <transmission name="trans_left_front_roller_9_joint">
        <type>transmission_interface/SimpleTransmission</type>
        <joint name="left_front_roller_9_joint">
            <hardwareInterface>hardware_interface/EffortJointInterface</hardwareInterface>
        </joint>
        <actuator name="left_front_roller_9_joint_motor">
            <hardwareInterface>hardware_interface/EffortJointInterface</hardwareInterface>
            <mechanicalReduction>1</mechanicalReduction>
        </actuator>
    </transmission>
    <transmission name="trans_left_front_roller_10_joint">
        <type>transmission_interface/SimpleTransmission</type>
        <joint name="left_front_roller_10_joint">
            <hardwareInterface>hardware_interface/EffortJointInterface</hardwareInterface>
        </joint>
        <actuator name="left_front_roller_10_joint_motor">
            <hardwareInterface>hardware_interface/EffortJointInterface</hardwareInterface>
            <mechanicalReduction>1</mechanicalReduction>
        </actuator>
    </transmission>
    <transmission name="trans_left_front_roller_11_joint">
        <type>transmission_interface/SimpleTransmission</type>
        <joint name="left_front_roller_11_joint">
            <hardwareInterface>hardware_interface/EffortJointInterface</hardwareInterface>
        </joint>
        <actuator name="left_front_roller_11_joint_motor">
            <hardwareInterface>hardware_interface/EffortJointInterface</hardwareInterface>
            <mechanicalReduction>1</mechanicalReduction>
        </actuator>
    </transmission>
    <transmission name="trans_left_front_roller_12_joint">
        <type>transmission_interface/SimpleTransmission</type>
        <joint name="left_front_roller_12_joint">
            <hardwareInterface>hardware_interface/EffortJointInterface</hardwareInterface>
        </joint>
        <actuator name="left_front_roller_12_joint_motor">
            <hardwareInterface>hardware_interface/EffortJointInterface</hardwareInterface>
            <mechanicalReduction>1</mechanicalReduction>
        </actuator>
    </transmission>
    <transmission name="trans_left_front_roller_13_joint">
        <type>transmission_interface/SimpleTransmission</type>
        <joint name="left_front_roller_13_joint">
            <hardwareInterface>hardware_interface/EffortJointInterface</hardwareInterface>
        </joint>
        <actuator name="left_front_roller_13_joint_motor">
            <hardwareInterface>hardware_interface/EffortJointInterface</hardwareInterface>
            <mechanicalReduction>1</mechanicalReduction>
        </actuator>
    </transmission>
    <transmission name="trans_left_front_roller_14_joint">
        <type>transmission_interface/SimpleTransmission</type>
        <joint name="left_front_roller_14_joint">
            <hardwareInterface>hardware_interface/EffortJointInterface</hardwareInterface>
        </joint>
        <actuator name="left_front_roller_14_joint_motor">
            <hardwareInterface>hardware_interface/EffortJointInterface</hardwareInterface>
            <mechanicalReduction>1</mechanicalReduction>
        </actuator>
    </transmission>
    <transmission name="trans_left_front_roller_15_joint">
        <type>transmission_interface/SimpleTransmission</type>
        <joint name="left_front_roller_15_joint">
            <hardwareInterface>hardware_interface/EffortJointInterface</hardwareInterface>
        </joint>
        <actuator name="left_front_roller_15_joint_motor">
            <hardwareInterface>hardware_interface/EffortJointInterface</hardwareInterface>
            <mechanicalReduction>1</mechanicalReduction>
        </actuator>
    </transmission>
    <transmission name="trans_right_front_roller_0_joint">
        <type>transmission_interface/SimpleTransmission</type>
        <joint name="right_front_roller_0_joint">
            <hardwareInterface>hardware_interface/EffortJointInterface</hardwareInterface>
        </joint>
        <actuator name="right_front_roller_0_joint_motor">
            <hardwareInterface>hardware_interface/EffortJointInterface</hardwareInterface>
            <mechanicalReduction>1</mechanicalReduction>
        </actuator>
    </transmission>
    <transmission name="trans_right_front_roller_1_joint">
        <type>transmission_interface/SimpleTransmission</type>
        <joint name="right_front_roller_1_joint">
            <hardwareInterface>hardware_interface/EffortJointInterface</hardwareInterface>
        </joint>
        <actuator name="right_front_roller_1_joint_motor">
            <hardwareInterface>hardware_interface/EffortJointInterface</hardwareInterface>
            <mechanicalReduction>1</mechanicalReduction>
        </actuator>
    </transmission>
    <transmission name="trans_right_front_roller_2_joint">
        <type>transmission_interface/SimpleTransmission</type>
        <joint name="right_front_roller_2_joint">
            <hardwareInterface>hardware_interface/EffortJointInterface</hardwareInterface>
        </joint>
        <actuator name="right_front_roller_2_joint_motor">
            <hardwareInterface>hardware_interface/EffortJointInterface</hardwareInterface>
            <mechanicalReduction>1</mechanicalReduction>
        </actuator>
    </transmission>
    <transmission name="trans_right_front_roller_3_joint">
        <type>transmission_interface/SimpleTransmission</type>
        <joint name="right_front_roller_3_joint">
            <hardwareInterface>hardware_interface/EffortJointInterface</hardwareInterface>
        </joint>
        <actuator name="right_front_roller_3_joint_motor">
            <hardwareInterface>hardware_interface/EffortJointInterface</hardwareInterface>
            <mechanicalReduction>1</mechanicalReduction>
        </actuator>
    </transmission>
    <transmission name="trans_right_front_roller_4_joint">
        <type>transmission_interface/SimpleTransmission</type>
        <joint name="right_front_roller_4_joint">
            <hardwareInterface>hardware_interface/EffortJointInterface</hardwareInterface>
        </joint>
        <actuator name="right_front_roller_4_joint_motor">
            <hardwareInterface>hardware_interface/EffortJointInterface</hardwareInterface>
            <mechanicalReduction>1</mechanicalReduction>
        </actuator>
    </transmission>
    <transmission name="trans_right_front_roller_5_joint">
        <type>transmission_interface/SimpleTransmission</type>
        <joint name="right_front_roller_5_joint">
            <hardwareInterface>hardware_interface/EffortJointInterface</hardwareInterface>
        </joint>
        <actuator name="right_front_roller_5_joint_motor">
            <hardwareInterface>hardware_interface/EffortJointInterface</hardwareInterface>
            <mechanicalReduction>1</mechanicalReduction>
        </actuator>
    </transmission>
    <transmission name="trans_right_front_roller_6_joint">
        <type>transmission_interface/SimpleTransmission</type>
        <joint name="right_front_roller_6_joint">
            <hardwareInterface>hardware_interface/EffortJointInterface</hardwareInterface>
        </joint>
        <actuator name="right_front_roller_6_joint_motor">
            <hardwareInterface>hardware_interface/EffortJointInterface</hardwareInterface>
            <mechanicalReduction>1</mechanicalReduction>
        </actuator>
    </transmission>
    <transmission name="trans_right_front_roller_7_joint">
        <type>transmission_interface/SimpleTransmission</type>
        <joint name="right_front_roller_7_joint">
            <hardwareInterface>hardware_interface/EffortJointInterface</hardwareInterface>
        </joint>
        <actuator name="right_front_roller_7_joint_motor">
            <hardwareInterface>hardware_interface/EffortJointInterface</hardwareInterface>
            <mechanicalReduction>1</mechanicalReduction>
        </actuator>
    </transmission>
    <transmission name="trans_right_front_roller_8_joint">
        <type>transmission_interface/SimpleTransmission</type>
        <joint name="right_front_roller_8_joint">
            <hardwareInterface>hardware_interface/EffortJointInterface</hardwareInterface>
        </joint>
        <actuator name="right_front_roller_8_joint_motor">
            <hardwareInterface>hardware_interface/EffortJointInterface</hardwareInterface>
            <mechanicalReduction>1</mechanicalReduction>
        </actuator>
    </transmission>
    <transmission name="trans_right_front_roller_9_joint">
        <type>transmission_interface/SimpleTransmission</type>
        <joint name="right_front_roller_9_joint">
            <hardwareInterface>hardware_interface/EffortJointInterface</hardwareInterface>
        </joint>
        <actuator name="right_front_roller_9_joint_motor">
            <hardwareInterface>hardware_interface/EffortJointInterface</hardwareInterface>
            <mechanicalReduction>1</mechanicalReduction>
        </actuator>
    </transmission>
    <transmission name="trans_right_front_roller_10_joint">
        <type>transmission_interface/SimpleTransmission</type>
        <joint name="right_front_roller_10_joint">
            <hardwareInterface>hardware_interface/EffortJointInterface</hardwareInterface>
        </joint>
        <actuator name="right_front_roller_10_joint_motor">
            <hardwareInterface>hardware_interface/EffortJointInterface</hardwareInterface>
            <mechanicalReduction>1</mechanicalReduction>
        </actuator>
    </transmission>
    <transmission name="trans_right_front_roller_11_joint">
        <type>transmission_interface/SimpleTransmission</type>
        <joint name="right_front_roller_11_joint">
            <hardwareInterface>hardware_interface/EffortJointInterface</hardwareInterface>
        </joint>
        <actuator name="right_front_roller_11_joint_motor">
            <hardwareInterface>hardware_interface/EffortJointInterface</hardwareInterface>
            <mechanicalReduction>1</mechanicalReduction>
        </actuator>
    </transmission>
    <transmission name="trans_right_front_roller_12_joint">
        <type>transmission_interface/SimpleTransmission</type>
        <joint name="right_front_roller_12_joint">
            <hardwareInterface>hardware_interface/EffortJointInterface</hardwareInterface>
        </joint>
        <actuator name="right_front_roller_12_joint_motor">
            <hardwareInterface>hardware_interface/EffortJointInterface</hardwareInterface>
            <mechanicalReduction>1</mechanicalReduction>
        </actuator>
    </transmission>
    <transmission name="trans_right_front_roller_13_joint">
        <type>transmission_interface/SimpleTransmission</type>
        <joint name="right_front_roller_13_joint">
            <hardwareInterface>hardware_interface/EffortJointInterface</hardwareInterface>
        </joint>
        <actuator name="right_front_roller_13_joint_motor">
            <hardwareInterface>hardware_interface/EffortJointInterface</hardwareInterface>
            <mechanicalReduction>1</mechanicalReduction>
        </actuator>
    </transmission>
    <transmission name="trans_right_front_roller_14_joint">
        <type>transmission_interface/SimpleTransmission</type>
        <joint name="right_front_roller_14_joint">
            <hardwareInterface>hardware_interface/EffortJointInterface</hardwareInterface>
        </joint>
        <actuator name="right_front_roller_14_joint_motor">
            <hardwareInterface>hardware_interface/EffortJointInterface</hardwareInterface>
            <mechanicalReduction>1</mechanicalReduction>
        </actuator>
    </transmission>
    <transmission name="trans_right_front_roller_15_joint">
        <type>transmission_interface/SimpleTransmission</type>
        <joint name="right_front_roller_15_joint">
            <hardwareInterface>hardware_interface/EffortJointInterface</hardwareInterface>
        </joint>
        <actuator name="right_front_roller_15_joint_motor">
            <hardwareInterface>hardware_interface/EffortJointInterface</hardwareInterface>
            <mechanicalReduction>1</mechanicalReduction>
        </actuator>
    </transmission>
    <transmission name="trans_left_back_roller_0_joint">
        <type>transmission_interface/SimpleTransmission</type>
        <joint name="left_back_roller_0_joint">
            <hardwareInterface>hardware_interface/EffortJointInterface</hardwareInterface>
        </joint>
        <actuator name="left_back_roller_0_joint_motor">
            <hardwareInterface>hardware_interface/EffortJointInterface</hardwareInterface>
            <mechanicalReduction>1</mechanicalReduction>
        </actuator>
    </transmission>
    <transmission name="trans_left_back_roller_1_joint">
        <type>transmission_interface/SimpleTransmission</type>
        <joint name="left_back_roller_1_joint">
            <hardwareInterface>hardware_interface/EffortJointInterface</hardwareInterface>
        </joint>
        <actuator name="left_back_roller_1_joint_motor">
            <hardwareInterface>hardware_interface/EffortJointInterface</hardwareInterface>
            <mechanicalReduction>1</mechanicalReduction>
        </actuator>
    </transmission>
    <transmission name="trans_left_back_roller_2_joint">
        <type>transmission_interface/SimpleTransmission</type>
        <joint name="left_back_roller_2_joint">
            <hardwareInterface>hardware_interface/EffortJointInterface</hardwareInterface>
        </joint>
        <actuator name="left_back_roller_2_joint_motor">
            <hardwareInterface>hardware_interface/EffortJointInterface</hardwareInterface>
            <mechanicalReduction>1</mechanicalReduction>
        </actuator>
    </transmission>
    <transmission name="trans_left_back_roller_3_joint">
        <type>transmission_interface/SimpleTransmission</type>
        <joint name="left_back_roller_3_joint">
            <hardwareInterface>hardware_interface/EffortJointInterface</hardwareInterface>
        </joint>
        <actuator name="left_back_roller_3_joint_motor">
            <hardwareInterface>hardware_interface/EffortJointInterface</hardwareInterface>
            <mechanicalReduction>1</mechanicalReduction>
        </actuator>
    </transmission>
    <transmission name="trans_left_back_roller_4_joint">
        <type>transmission_interface/SimpleTransmission</type>
        <joint name="left_back_roller_4_joint">
            <hardwareInterface>hardware_interface/EffortJointInterface</hardwareInterface>
        </joint>
        <actuator name="left_back_roller_4_joint_motor">
            <hardwareInterface>hardware_interface/EffortJointInterface</hardwareInterface>
            <mechanicalReduction>1</mechanicalReduction>
        </actuator>
    </transmission>
    <transmission name="trans_left_back_roller_5_joint">
        <type>transmission_interface/SimpleTransmission</type>
        <joint name="left_back_roller_5_joint">
            <hardwareInterface>hardware_interface/EffortJointInterface</hardwareInterface>
        </joint>
        <actuator name="left_back_roller_5_joint_motor">
            <hardwareInterface>hardware_interface/EffortJointInterface</hardwareInterface>
            <mechanicalReduction>1</mechanicalReduction>
        </actuator>
    </transmission>
    <transmission name="trans_left_back_roller_6_joint">
        <type>transmission_interface/SimpleTransmission</type>
        <joint name="left_back_roller_6_joint">
            <hardwareInterface>hardware_interface/EffortJointInterface</hardwareInterface>
        </joint>
        <actuator name="left_back_roller_6_joint_motor">
            <hardwareInterface>hardware_interface/EffortJointInterface</hardwareInterface>
            <mechanicalReduction>1</mechanicalReduction>
        </actuator>
    </transmission>
    <transmission name="trans_left_back_roller_7_joint">
        <type>transmission_interface/SimpleTransmission</type>
        <joint name="left_back_roller_7_joint">
            <hardwareInterface>hardware_interface/EffortJointInterface</hardwareInterface>
        </joint>
        <actuator name="left_back_roller_7_joint_motor">
            <hardwareInterface>hardware_interface/EffortJointInterface</hardwareInterface>
            <mechanicalReduction>1</mechanicalReduction>
        </actuator>
    </transmission>
    <transmission name="trans_left_back_roller_8_joint">
        <type>transmission_interface/SimpleTransmission</type>
        <joint name="left_back_roller_8_joint">
            <hardwareInterface>hardware_interface/EffortJointInterface</hardwareInterface>
        </joint>
        <actuator name="left_back_roller_8_joint_motor">
            <hardwareInterface>hardware_interface/EffortJointInterface</hardwareInterface>
            <mechanicalReduction>1</mechanicalReduction>
        </actuator>
    </transmission>
    <transmission name="trans_left_back_roller_9_joint">
        <type>transmission_interface/SimpleTransmission</type>
        <joint name="left_back_roller_9_joint">
            <hardwareInterface>hardware_interface/EffortJointInterface</hardwareInterface>
        </joint>
        <actuator name="left_back_roller_9_joint_motor">
            <hardwareInterface>hardware_interface/EffortJointInterface</hardwareInterface>
            <mechanicalReduction>1</mechanicalReduction>
        </actuator>
    </transmission>
    <transmission name="trans_left_back_roller_10_joint">
        <type>transmission_interface/SimpleTransmission</type>
        <joint name="left_back_roller_10_joint">
            <hardwareInterface>hardware_interface/EffortJointInterface</hardwareInterface>
        </joint>
        <actuator name="left_back_roller_10_joint_motor">
            <hardwareInterface>hardware_interface/EffortJointInterface</hardwareInterface>
            <mechanicalReduction>1</mechanicalReduction>
        </actuator>
    </transmission>
    <transmission name="trans_left_back_roller_11_joint">
        <type>transmission_interface/SimpleTransmission</type>
        <joint name="left_back_roller_11_joint">
            <hardwareInterface>hardware_interface/EffortJointInterface</hardwareInterface>
        </joint>
        <actuator name="left_back_roller_11_joint_motor">
            <hardwareInterface>hardware_interface/EffortJointInterface</hardwareInterface>
            <mechanicalReduction>1</mechanicalReduction>
        </actuator>
    </transmission>
    <transmission name="trans_left_back_roller_12_joint">
        <type>transmission_interface/SimpleTransmission</type>
        <joint name="left_back_roller_12_joint">
            <hardwareInterface>hardware_interface/EffortJointInterface</hardwareInterface>
        </joint>
        <actuator name="left_back_roller_12_joint_motor">
            <hardwareInterface>hardware_interface/EffortJointInterface</hardwareInterface>
            <mechanicalReduction>1</mechanicalReduction>
        </actuator>
    </transmission>
    <transmission name="trans_left_back_roller_13_joint">
        <type>transmission_interface/SimpleTransmission</type>
        <joint name="left_back_roller_13_joint">
            <hardwareInterface>hardware_interface/EffortJointInterface</hardwareInterface>
        </joint>
        <actuator name="left_back_roller_13_joint_motor">
            <hardwareInterface>hardware_interface/EffortJointInterface</hardwareInterface>
            <mechanicalReduction>1</mechanicalReduction>
        </actuator>
    </transmission>
    <transmission name="trans_left_back_roller_14_joint">
        <type>transmission_interface/SimpleTransmission</type>
        <joint name="left_back_roller_14_joint">
            <hardwareInterface>hardware_interface/EffortJointInterface</hardwareInterface>
        </joint>
        <actuator name="left_back_roller_14_joint_motor">
            <hardwareInterface>hardware_interface/EffortJointInterface</hardwareInterface>
            <mechanicalReduction>1</mechanicalReduction>
        </actuator>
    </transmission>
    <transmission name="trans_left_back_roller_15_joint">
        <type>transmission_interface/SimpleTransmission</type>
        <joint name="left_back_roller_15_joint">
            <hardwareInterface>hardware_interface/EffortJointInterface</hardwareInterface>
        </joint>
        <actuator name="left_back_roller_15_joint_motor">
            <hardwareInterface>hardware_interface/EffortJointInterface</hardwareInterface>
            <mechanicalReduction>1</mechanicalReduction>
        </actuator>
    </transmission>
    <transmission name="trans_right_back_roller_0_joint">
        <type>transmission_interface/SimpleTransmission</type>
        <joint name="right_back_roller_0_joint">
            <hardwareInterface>hardware_interface/EffortJointInterface</hardwareInterface>
        </joint>
        <actuator name="right_back_roller_0_joint_motor">
            <hardwareInterface>hardware_interface/EffortJointInterface</hardwareInterface>
            <mechanicalReduction>1</mechanicalReduction>
        </actuator>
    </transmission>
    <transmission name="trans_right_back_roller_1_joint">
        <type>transmission_interface/SimpleTransmission</type>
        <joint name="right_back_roller_1_joint">
            <hardwareInterface>hardware_interface/EffortJointInterface</hardwareInterface>
        </joint>
        <actuator name="right_back_roller_1_joint_motor">
            <hardwareInterface>hardware_interface/EffortJointInterface</hardwareInterface>
            <mechanicalReduction>1</mechanicalReduction>
        </actuator>
    </transmission>
    <transmission name="trans_right_back_roller_2_joint">
        <type>transmission_interface/SimpleTransmission</type>
        <joint name="right_back_roller_2_joint">
            <hardwareInterface>hardware_interface/EffortJointInterface</hardwareInterface>
        </joint>
        <actuator name="right_back_roller_2_joint_motor">
            <hardwareInterface>hardware_interface/EffortJointInterface</hardwareInterface>
            <mechanicalReduction>1</mechanicalReduction>
        </actuator>
    </transmission>
    <transmission name="trans_right_back_roller_3_joint">
        <type>transmission_interface/SimpleTransmission</type>
        <joint name="right_back_roller_3_joint">
            <hardwareInterface>hardware_interface/EffortJointInterface</hardwareInterface>
        </joint>
        <actuator name="right_back_roller_3_joint_motor">
            <hardwareInterface>hardware_interface/EffortJointInterface</hardwareInterface>
            <mechanicalReduction>1</mechanicalReduction>
        </actuator>
    </transmission>
    <transmission name="trans_right_back_roller_4_joint">
        <type>transmission_interface/SimpleTransmission</type>
        <joint name="right_back_roller_4_joint">
            <hardwareInterface>hardware_interface/EffortJointInterface</hardwareInterface>
        </joint>
        <actuator name="right_back_roller_4_joint_motor">
            <hardwareInterface>hardware_interface/EffortJointInterface</hardwareInterface>
            <mechanicalReduction>1</mechanicalReduction>
        </actuator>
    </transmission>
    <transmission name="trans_right_back_roller_5_joint">
        <type>transmission_interface/SimpleTransmission</type>
        <joint name="right_back_roller_5_joint">
            <hardwareInterface>hardware_interface/EffortJointInterface</hardwareInterface>
        </joint>
        <actuator name="right_back_roller_5_joint_motor">
            <hardwareInterface>hardware_interface/EffortJointInterface</hardwareInterface>
            <mechanicalReduction>1</mechanicalReduction>
        </actuator>
    </transmission>
    <transmission name="trans_right_back_roller_6_joint">
        <type>transmission_interface/SimpleTransmission</type>
        <joint name="right_back_roller_6_joint">
            <hardwareInterface>hardware_interface/EffortJointInterface</hardwareInterface>
        </joint>
        <actuator name="right_back_roller_6_joint_motor">
            <hardwareInterface>hardware_interface/EffortJointInterface</hardwareInterface>
            <mechanicalReduction>1</mechanicalReduction>
        </actuator>
    </transmission>
    <transmission name="trans_right_back_roller_7_joint">
        <type>transmission_interface/SimpleTransmission</type>
        <joint name="right_back_roller_7_joint">
            <hardwareInterface>hardware_interface/EffortJointInterface</hardwareInterface>
        </joint>
        <actuator name="right_back_roller_7_joint_motor">
            <hardwareInterface>hardware_interface/EffortJointInterface</hardwareInterface>
            <mechanicalReduction>1</mechanicalReduction>
        </actuator>
    </transmission>
    <transmission name="trans_right_back_roller_8_joint">
        <type>transmission_interface/SimpleTransmission</type>
        <joint name="right_back_roller_8_joint">
            <hardwareInterface>hardware_interface/EffortJointInterface</hardwareInterface>
        </joint>
        <actuator name="right_back_roller_8_joint_motor">
            <hardwareInterface>hardware_interface/EffortJointInterface</hardwareInterface>
            <mechanicalReduction>1</mechanicalReduction>
        </actuator>
    </transmission>
    <transmission name="trans_right_back_roller_9_joint">
        <type>transmission_interface/SimpleTransmission</type>
        <joint name="right_back_roller_9_joint">
            <hardwareInterface>hardware_interface/EffortJointInterface</hardwareInterface>
        </joint>
        <actuator name="right_back_roller_9_joint_motor">
            <hardwareInterface>hardware_interface/EffortJointInterface</hardwareInterface>
            <mechanicalReduction>1</mechanicalReduction>
        </actuator>
    </transmission>
    <transmission name="trans_right_back_roller_10_joint">
        <type>transmission_interface/SimpleTransmission</type>
        <joint name="right_back_roller_10_joint">
            <hardwareInterface>hardware_interface/EffortJointInterface</hardwareInterface>
        </joint>
        <actuator name="right_back_roller_10_joint_motor">
            <hardwareInterface>hardware_interface/EffortJointInterface</hardwareInterface>
            <mechanicalReduction>1</mechanicalReduction>
        </actuator>
    </transmission>
    <transmission name="trans_right_back_roller_11_joint">
        <type>transmission_interface/SimpleTransmission</type>
        <joint name="right_back_roller_11_joint">
            <hardwareInterface>hardware_interface/EffortJointInterface</hardwareInterface>
        </joint>
        <actuator name="right_back_roller_11_joint_motor">
            <hardwareInterface>hardware_interface/EffortJointInterface</hardwareInterface>
            <mechanicalReduction>1</mechanicalReduction>
        </actuator>
    </transmission>
    <transmission name="trans_right_back_roller_12_joint">
        <type>transmission_interface/SimpleTransmission</type>
        <joint name="right_back_roller_12_joint">
            <hardwareInterface>hardware_interface/EffortJointInterface</hardwareInterface>
        </joint>
        <actuator name="right_back_roller_12_joint_motor">
            <hardwareInterface>hardware_interface/EffortJointInterface</hardwareInterface>
            <mechanicalReduction>1</mechanicalReduction>
        </actuator>
    </transmission>
    <transmission name="trans_right_back_roller_13_joint">
        <type>transmission_interface/SimpleTransmission</type>
        <joint name="right_back_roller_13_joint">
            <hardwareInterface>hardware_interface/EffortJointInterface</hardwareInterface>
        </joint>
        <actuator name="right_back_roller_13_joint_motor">
            <hardwareInterface>hardware_interface/EffortJointInterface</hardwareInterface>
            <mechanicalReduction>1</mechanicalReduction>
        </actuator>
    </transmission>
    <transmission name="trans_right_back_roller_14_joint">
        <type>transmission_interface/SimpleTransmission</type>
        <joint name="right_back_roller_14_joint">
            <hardwareInterface>hardware_interface/EffortJointInterface</hardwareInterface>
        </joint>
        <actuator name="right_back_roller_14_joint_motor">
            <hardwareInterface>hardware_interface/EffortJointInterface</hardwareInterface>
            <mechanicalReduction>1</mechanicalReduction>
        </actuator>
    </transmission>
    <transmission name="trans_right_back_roller_15_joint">
        <type>transmission_interface/SimpleTransmission</type>
        <joint name="right_back_roller_15_joint">
            <hardwareInterface>hardware_interface/EffortJointInterface</hardwareInterface>
        </joint>
        <actuator name="right_back_roller_15_joint_motor">
            <hardwareInterface>hardware_interface/EffortJointInterface</hardwareInterface>
            <mechanicalReduction>1</mechanicalReduction>
        </actuator>
    </transmission>
</robot>
